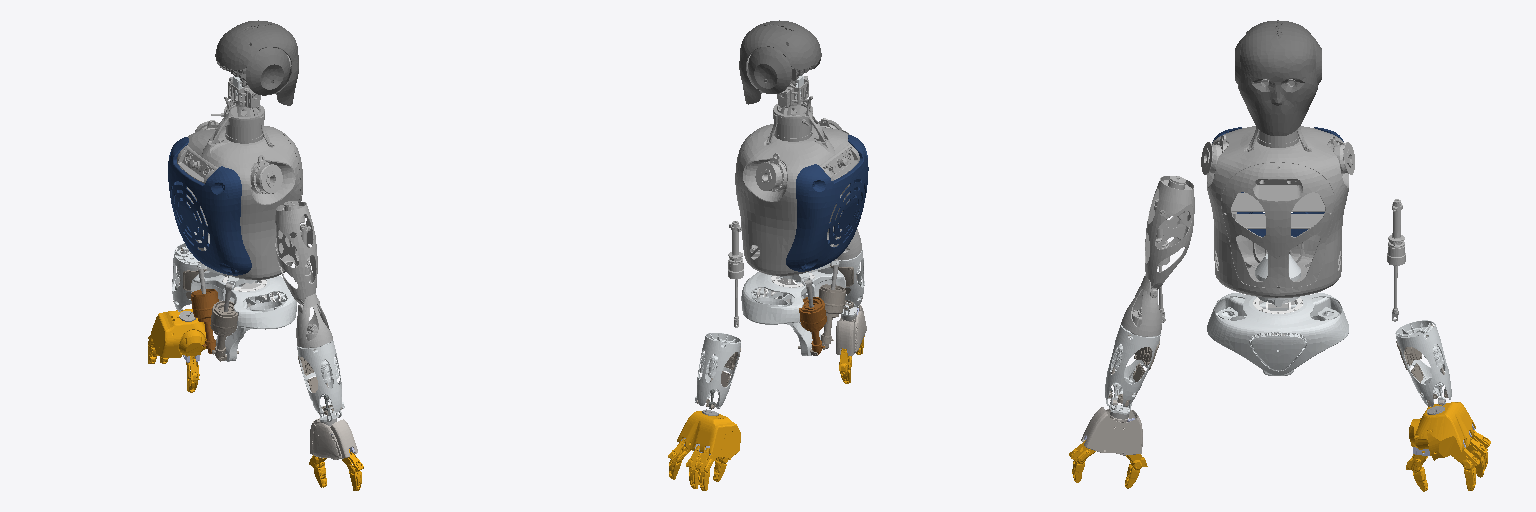
--- What the picture shows (computed from the rendered views, not written in the file) ---
The picture shows the robot from 3 angles, left to right: view 1: azimuth 30°, elevation 25°; view 2: azimuth 150°, elevation 25°; view 3: azimuth 270°, elevation 25°; orthographic projection.
Robot: RH5v2 — 147 links, 146 joints (78 revolute, 8 prismatic, 60 fixed); root link RH5v2_Root_Link; default pose: all joints at 0.
Visible links, largest first — view 1: Connector_Body/Torso_Link, Connector_Torso/Backpack_Link, HeadYaw_Link, RH5v2_Root_Link, ARShoulder3_Link, HeadBase_Link, ARWristBase_Link, GLBase_Link, GRBase_Link, ARElbow_Link, BodyBR2_Link, BodyBL2_Link (+3 smaller); view 2: Connector_Body/Torso_Link, Connector_Torso/Backpack_Link, HeadYaw_Link, RH5v2_Root_Link, HeadBase_Link, GLBase_Link, ALWristBase_Link, GRBase_Link, BodyBL2_Link, BodyBR2_Link, ALBase_Link, ARWristBase_Link (+1 smaller); view 3: Connector_Body/Torso_Link, RH5v2_Root_Link, HeadYaw_Link, ARShoulder3_Link, ALWristBase_Link, GLBase_Link, GRBase_Link, ARWristBase_Link, ARElbow_Link, ALElbowB11_Link, HeadBase_Link, ARBase_Link (+1 smaller).
Link boxes in pixels (x1=…): Connector_Body/Torso_Link: x1=177, y1=126, x2=302, y2=279; Connector_Torso/Backpack_Link: x1=168, y1=137, x2=251, y2=275; HeadYaw_Link: x1=215, y1=20, x2=298, y2=105; RH5v2_Root_Link: x1=191, y1=271, x2=296, y2=361; ARShoulder3_Link: x1=275, y1=201, x2=317, y2=309; HeadBase_Link: x1=208, y1=76, x2=271, y2=146; ARWristBase_Link: x1=297, y1=340, x2=341, y2=414; GLBase_Link: x1=151, y1=309, x2=206, y2=357; GRBase_Link: x1=310, y1=418, x2=357, y2=459; ARElbow_Link: x1=296, y1=293, x2=332, y2=350; BodyBR2_Link: x1=210, y1=301, x2=237, y2=360; BodyBL2_Link: x1=191, y1=289, x2=218, y2=353; Connector_Body/Torso_Link: x1=735, y1=124, x2=859, y2=275; Connector_Torso/Backpack_Link: x1=786, y1=135, x2=868, y2=271; HeadYaw_Link: x1=739, y1=20, x2=821, y2=104; RH5v2_Root_Link: x1=741, y1=267, x2=845, y2=355; HeadBase_Link: x1=766, y1=76, x2=828, y2=144; GLBase_Link: x1=677, y1=411, x2=740, y2=458; ALWristBase_Link: x1=697, y1=333, x2=740, y2=408; GRBase_Link: x1=836, y1=303, x2=866, y2=355; BodyBL2_Link: x1=799, y1=297, x2=826, y2=354; BodyBR2_Link: x1=819, y1=284, x2=845, y2=349; ALBase_Link: x1=755, y1=153, x2=786, y2=191; ARWristBase_Link: x1=839, y1=250, x2=864, y2=307; Connector_Body/Torso_Link: x1=1207, y1=126, x2=1348, y2=297; RH5v2_Root_Link: x1=1207, y1=293, x2=1348, y2=375; HeadYaw_Link: x1=1235, y1=20, x2=1321, y2=135; ARShoulder3_Link: x1=1145, y1=176, x2=1194, y2=295; ALWristBase_Link: x1=1395, y1=320, x2=1451, y2=406; GLBase_Link: x1=1414, y1=402, x2=1475, y2=460; GRBase_Link: x1=1081, y1=407, x2=1142, y2=455; ARWristBase_Link: x1=1105, y1=325, x2=1160, y2=406; ARElbow_Link: x1=1121, y1=274, x2=1165, y2=336; ALElbowB11_Link: x1=1387, y1=199, x2=1405, y2=265; HeadBase_Link: x1=1247, y1=127, x2=1309, y2=151; ARBase_Link: x1=1201, y1=135, x2=1228, y2=175.
Size in the robot's own frame: 0.3432 by 1.02 by 1.23 metres.
99 mesh visuals loaded from 83 distinct referenced files (74 binary STL); not drawn: 9 (reference not matched to a file when rendering).

The robot description file, URDF, robot "RH5v2":
<robot name="RH5v2">
  <joint name="ALBase" type="fixed">
    <origin xyz="0.29809 0.12609 0.025162" rpy="1.508093 0.25436 1.3265"/>
    <parent link="Connector_Body/Torso_Link"/>
    <child link="ALBase_Link"/>
  </joint>
  <link name="ALBase_Link">
    <inertial>
      <origin xyz="0.0079897 -7.1316e-07 0.00019625" rpy="0.0 0.0 0.0"/>
      <mass value="1.1943"/>
      <inertia ixx="0.00089755" ixy="1.4484e-08" ixz="-2.6127e-07" iyy="0.00057565" iyz="-7.8027e-07" izz="0.00056347"/>
    </inertial>
    <visual name="ALBase_Link_Visual">
      <origin xyz="0.0 0.0 0.0" rpy="0.0 0.0 0.0"/>
      <geometry>
        <mesh filename="../meshes/ALBase_Link.stl"/>
      </geometry>
      <material name="">
        <color rgba="0.75294 0.75294 0.75294 1.0"/>
      </material>
    </visual>
    <collision name="ALBase_Link_Collision">
      <origin xyz="0.0 0.0 0.0" rpy="0.0 0.0 0.0"/>
      <geometry>
        <mesh filename="../meshes/ALBase_Link_convexhull.stl" scale="1.0 1.0 1.0"/>
      </geometry>
    </collision>
  </link>
  <joint name="ALElbow" type="revolute">
    <origin xyz="0.0 0.001 0.3511" rpy="0.0 0.0 0.0"/>
    <axis xyz="1.0 0.0 0.0"/>
    <parent link="ALShoulder3_Link"/>
    <child link="ALElbow_Link"/>
    <limit effort="400.0" lower="-1.832" upper="0.0" velocity="3.1415926"/>
  </joint>
  <joint name="ALElbowAct" type="prismatic">
    <origin xyz="0.0 0.0 0.29542" rpy="0.0 0.0 0.0"/>
    <axis xyz="0.0 0.0 1.0"/>
    <parent link="ALElbowB11_Link"/>
    <child link="ALElbowAct_Link"/>
    <limit effort="400.0" lower="-1.57" upper="1.57" velocity="3.1415926"/>
  </joint>
  <link name="ALElbowAct_Link">
    <inertial>
      <origin xyz="-6.1594e-06 1.459e-10 -0.085859" rpy="0.0 0.0 0.0"/>
      <mass value="0.054652"/>
      <inertia ixx="0.00010606969013629223" ixy="3.492500000065374e-13" ixz="3.6185000000071752e-09" iyy="0.00010597469013629217" iyz="-4.3476005705310174e-14" izz="1.0000000136292127e-05"/>
    </inertial>
    <visual name="ALElbowAct_Link_Visual">
      <origin xyz="0.0 0.0 0.0" rpy="0.0 0.0 0.0"/>
      <geometry>
        <mesh filename="../meshes/ALElbow_Act_Link.stl"/>
      </geometry>
      <material name="">
        <color rgba="0.75294 0.75294 0.75294 1.0"/>
      </material>
    </visual>
    <collision name="ALElbowAct_Link_Collision">
      <origin xyz="0.0 0.0 0.0" rpy="0.0 0.0 0.0"/>
      <geometry>
        <mesh filename="../meshes/ALElbow_Act_Link_convexhull.stl" scale="1.0 1.0 1.0"/>
      </geometry>
    </collision>
  </link>
  <joint name="ALElbowB11" type="revolute">
    <origin xyz="0.0 -0.029 0.1391" rpy="-0.25319 0.0 0.0"/>
    <axis xyz="1.0 0.0 0.0"/>
    <parent link="ALShoulder3_Link"/>
    <child link="ALElbowB11_Link"/>
    <limit effort="400.0" lower="-1.57" upper="1.57" velocity="3.1415926"/>
  </joint>
  <link name="ALElbowB11_Link">
    <inertial>
      <origin xyz="2.5944e-05 1.8924e-05 0.10704" rpy="0.0 0.0 0.0"/>
      <mass value="0.32696"/>
      <inertia ixx="0.00011102" ixy="-1.0985e-08" ixz="-6.6288e-08" iyy="0.00011251" iyz="1.4067e-07" izz="7.0733e-05"/>
    </inertial>
    <visual name="ALElbowB11_Link_Visual">
      <origin xyz="0.0 0.0 0.0" rpy="0.0 0.0 0.0"/>
      <geometry>
        <mesh filename="../meshes/ALElbow_B11_Link.stl"/>
      </geometry>
      <material name="">
        <color rgba="0.75294 0.75294 0.75294 1.0"/>
      </material>
    </visual>
    <collision name="ALElbowB11_Link_Collision">
      <origin xyz="0.0 0.0 0.0" rpy="0.0 0.0 0.0"/>
      <geometry>
        <mesh filename="../meshes/ALElbow_B11_Link_convexhull.stl" scale="1.0 1.0 1.0"/>
      </geometry>
    </collision>
  </link>
  <link name="ALElbow_Link">
    <inertial>
      <origin xyz="-7.016e-05 0.001127 0.080286" rpy="0.0 0.0 0.0"/>
      <mass value="0.63578"/>
      <inertia ixx="0.00050999" ixy="2.2297e-07" ixz="4.047e-07" iyy="0.00051633" iyz="-4.4233e-05" izz="0.00046537"/>
    </inertial>
    <visual name="ALElbow_Link_Visual">
      <origin xyz="0.0 0.0 0.0" rpy="0.0 0.0 0.0"/>
      <geometry>
        <mesh filename="../meshes/ALElbow_Link.stl"/>
      </geometry>
      <material name="">
        <color rgba="0.75294 0.75294 0.75294 1.0"/>
      </material>
    </visual>
    <collision name="ALElbow_Link_Collision">
      <origin xyz="0.0 0.0 0.0" rpy="0.0 0.0 0.0"/>
      <geometry>
        <mesh filename="../meshes/ALElbow_Link_convexhull.stl" scale="1.0 1.0 1.0"/>
      </geometry>
    </collision>
  </link>
  <joint name="ALShoulder1" type="revolute">
    <origin xyz="0.1076 0.0 0.0" rpy="3.1416 0.0 0.0"/>
    <axis xyz="1.0 0.0 0.0"/>
    <parent link="ALBase_Link"/>
    <child link="ALShoulder1_Link"/>
    <limit effort="400.0" lower="-3.141" upper="3.141" velocity="3.1415926"/>
  </joint>
  <link name="ALShoulder1_Link">
    <inertial>
      <origin xyz="-0.0091569 0.0036464 -0.00016872" rpy="0.0 0.0 0.0"/>
      <mass value="1.602"/>
      <inertia ixx="0.0012117" ixy="-8.0704e-05" ixz="-3.528e-06" iyy="0.0015561" iyz="-2.6511e-06" izz="0.0010024"/>
    </inertial>
    <visual name="ALShoulder1_Link_Visual">
      <origin xyz="0.0 0.0 0.0" rpy="0.0 0.0 0.0"/>
      <geometry>
        <mesh filename="../meshes/ALShoulder1_Link.stl"/>
      </geometry>
      <material name="">
        <color rgba="0.75294 0.75294 0.75294 1.0"/>
      </material>
    </visual>
    <collision name="ALShoulder1_Link_Collision">
      <origin xyz="0.0 0.0 0.0" rpy="0.0 0.0 0.0"/>
      <geometry>
        <mesh filename="../meshes/ALShoulder1_Link_convexhull.stl" scale="1.0 1.0 1.0"/>
      </geometry>
    </collision>
  </link>
  <joint name="ALShoulder2" type="revolute">
    <origin xyz="0.0 0.0 0.0" rpy="0.0 0.0 0.0"/>
    <axis xyz="0.0 1.0 0.0"/>
    <parent link="ALShoulder1_Link"/>
    <child link="ALShoulder2_Link"/>
    <limit effort="400.0" lower="-0.253" upper="1.85" velocity="3.1415926"/>
  </joint>
  <link name="ALShoulder2_Link">
    <inertial>
      <origin xyz="0.010763 0.020477 0.0278" rpy="0.0 0.0 0.0"/>
      <mass value="0.50849"/>
      <inertia ixx="0.0010465" ixy="0.00012061" ixz="5.4855e-05" iyy="0.00092568" iyz="0.00027501" izz="0.0010393"/>
    </inertial>
    <visual name="ALShoulder2_Link_Visual">
      <origin xyz="0.0 0.0 0.0" rpy="0.0 0.0 0.0"/>
      <geometry>
        <mesh filename="../meshes/ALShoulder2_Link.stl"/>
      </geometry>
      <material name="">
        <color rgba="0.75294 0.75294 0.75294 1.0"/>
      </material>
    </visual>
    <collision name="ALShoulder2_Link_Collision">
      <origin xyz="0.0 0.0 0.0" rpy="0.0 0.0 0.0"/>
      <geometry>
        <mesh filename="../meshes/ALShoulder2_Link_convexhull.stl" scale="1.0 1.0 1.0"/>
      </geometry>
    </collision>
  </link>
  <joint name="ALShoulder3" type="revolute">
    <origin xyz="0.0 0.0 0.0" rpy="0.0 0.0 1.5707"/>
    <axis xyz="0.0 0.0 1.0"/>
    <parent link="ALShoulder2_Link"/>
    <child link="ALShoulder3_Link"/>
    <limit effort="400.0" lower="-3.141" upper="3.141" velocity="3.1415926"/>
  </joint>
  <link name="ALShoulder3_Link">
    <inertial>
      <origin xyz="-3.2703e-05 0.0033688 0.14648" rpy="0.0 0.0 0.0"/>
      <mass value="0.85234"/>
      <inertia ixx="0.0028013" ixy="5.1939e-07" ixz="-7.2591e-07" iyy="0.0027401" iyz="5.4672e-05" izz="0.00078629"/>
    </inertial>
    <visual name="ALShoulder3_Link_Visual">
      <origin xyz="0.0 0.0 0.0" rpy="0.0 0.0 0.0"/>
      <geometry>
        <mesh filename="../meshes/ALShoulder3_Link.stl"/>
      </geometry>
      <material name="">
        <color rgba="0.75294 0.75294 0.75294 1.0"/>
      </material>
    </visual>
    <collision name="ALShoulder3_Link_Collision">
      <origin xyz="0.0 0.0 0.0" rpy="0.0 0.0 0.0"/>
      <geometry>
        <mesh filename="../meshes/ALShoulder3_Link_convexhull.stl" scale="1.0 1.0 1.0"/>
      </geometry>
    </collision>
  </link>
  <joint name="ALWristAL1" type="revolute">
    <origin xyz="0.0155 -0.034 -0.178" rpy="1.5885 0.0 0.0"/>
    <axis xyz="1.0 0.0 0.0"/>
    <parent link="ALWristRoot_Link"/>
    <child link="ALWristAL1_Link"/>
    <limit effort="400.0" lower="-1.57" upper="1.57" velocity="3.1415926"/>
  </joint>
  <link name="ALWristAL1_Link">
    <inertial>
      <origin xyz="4.69848839836778e-06 0.0605130022183077 8.23954439692215e-05" rpy="0.0 0.0 0.0"/>
      <mass value="0.110279568172128"/>
      <inertia ixx="1.426060228931759e-05" ixy="-1.1829530729395678e-10" ixz="-1.5559842262297789e-09" iyy="1.0001497220685684e-05" iyz="-8.070848171024899e-08" izz="1.4350648635894694e-05"/>
    </inertial>
    <visual name="ALWristAL1_Link_Visual">
      <origin xyz="0.0 0.0 0.0" rpy="0.0 0.0 0.0"/>
      <geometry>
        <mesh filename="../meshes/ALWrist_AL1_Link.stl"/>
      </geometry>
      <material name="">
        <color rgba="0.898039215686275 0.917647058823529 0.929411764705882 1.0"/>
      </material>
    </visual>
    <collision name="ALWristAL1_Link_Collision">
      <origin xyz="0.0 0.0 0.0" rpy="0.0 0.0 0.0"/>
      <geometry>
        <mesh filename="../meshes/ALWrist_AL1_Link_convexhull.stl" scale="1.0 1.0 1.0"/>
      </geometry>
    </collision>
  </link>
  <joint name="ALWristAR1" type="revolute">
    <origin xyz="-0.0155 -0.034 -0.178" rpy="1.5885 0.0 0.0"/>
    <axis xyz="1.0 0.0 0.0"/>
    <parent link="ALWristRoot_Link"/>
    <child link="ALWristAR1_Link"/>
    <limit effort="400.0" lower="-1.57" upper="1.57" velocity="3.1415926"/>
  </joint>
  <link name="ALWristAR1_Link">
    <inertial>
      <origin xyz="1.0632e-07 0.058479 9.3561e-05" rpy="0.0 0.0 0.0"/>
      <mass value="0.10113"/>
      <inertia ixx="1.4212213742562422e-05" ixy="-1.1886000000000004e-10" ixz="-1.4829999999999594e-10" iyy="1.000151374256242e-05" iyz="-8.070899999999586e-08" izz="1.4303213742562425e-05"/>
    </inertial>
    <visual name="ALWristAR1_Link_Visual">
      <origin xyz="0.0 0.0 0.0" rpy="0.0 0.0 0.0"/>
      <geometry>
        <mesh filename="../meshes/ALWrist_AR1_Link.stl"/>
      </geometry>
      <material name="">
        <color rgba="0.89804 0.91765 0.92941 1.0"/>
      </material>
    </visual>
    <collision name="ALWristAR1_Link_Collision">
      <origin xyz="0.0 0.0 0.0" rpy="0.0 0.0 0.0"/>
      <geometry>
        <mesh filename="../meshes/ALWrist_AR1_Link_convexhull.stl" scale="1.0 1.0 1.0"/>
      </geometry>
    </collision>
  </link>
  <joint name="ALWristActL" type="prismatic">
    <origin xyz="0.0 0.13346 0.0" rpy="-1.5708 0.0 0.0"/>
    <axis xyz="0.0 0.0 1.0"/>
    <parent link="ALWristAL1_Link"/>
    <child link="ALWristActL_Link"/>
    <limit effort="400.0" lower="-1.57" upper="1.57" velocity="3.1415926"/>
  </joint>
  <link name="ALWristActL_Link">
    <inertial>
      <origin xyz="1.6961e-10 -3.3309e-11 -0.049176" rpy="0.0 0.0 0.0"/>
      <mass value="0.022415"/>
      <inertia ixx="2.2515570000000003e-05" ixy="-8.666700000001066e-16" ixz="7.960299999999999e-17" iyy="2.2496570000000005e-05" iyz="2.9215000273952845e-15" izz="1e-05"/>
    </inertial>
    <visual name="ALWristActL_Link_Visual">
      <origin xyz="0.0 0.0 0.0" rpy="0.0 0.0 0.0"/>
      <geometry>
        <mesh filename="../meshes/ALWrist_ActL_Link.stl"/>
      </geometry>
      <material name="">
        <color rgba="0.77647 0.75686 0.73725 1.0"/>
      </material>
    </visual>
    <collision name="ALWristActL_Link_Collision">
      <origin xyz="0.0 0.0 0.0" rpy="0.0 0.0 0.0"/>
      <geometry>
        <mesh filename="../meshes/ALWrist_ActL_Link_convexhull.stl" scale="1.0 1.0 1.0"/>
      </geometry>
    </collision>
  </link>
  <joint name="ALWristActR" type="prismatic">
    <origin xyz="0.0 0.13346 0.0" rpy="-1.5708 0.0 0.0"/>
    <axis xyz="0.0 0.0 1.0"/>
    <parent link="ALWristAR1_Link"/>
    <child link="ALWristActR_Link"/>
    <limit effort="400.0" lower="-1.57" upper="1.57" velocity="3.1415926"/>
  </joint>
  <link name="ALWristActR_Link">
    <inertial>
      <origin xyz="-2.50423902101171e-10 -5.99230387532401e-12 -0.0491763872735069" rpy="0.0 0.0 0.0"/>
      <mass value="0.0224154782060298"/>
      <inertia ixx="2.251577391703877e-05" ixy="-8.666685437716609e-16" ixz="7.959775514672119e-17" iyy="2.249645939989927e-05" iyz="2.9215994791528672e-15" izz="1e-05"/>
    </inertial>
    <visual name="ALWristActR_Link_Visual">
      <origin xyz="0.0 0.0 0.0" rpy="0.0 0.0 0.0"/>
      <geometry>
        <mesh filename="../meshes/ALWrist_ActR_Link.stl"/>
      </geometry>
      <material name="">
        <color rgba="0.776470588235294 0.756862745098039 0.737254901960784 1.0"/>
      </material>
    </visual>
    <collision name="ALWristActR_Link_Collision">
      <origin xyz="0.0 0.0 0.0" rpy="0.0 0.0 0.0"/>
      <geometry>
        <mesh filename="../meshes/ALWrist_ActR_Link_convexhull.stl" scale="1.0 1.0 1.0"/>
      </geometry>
    </collision>
  </link>
  <joint name="ALWristBL0" type="revolute">
    <origin xyz="0.0 0.0 0.045018" rpy="0.0 0.0 0.0"/>
    <axis xyz="1.0 0.0 0.0"/>
    <parent link="ALWristBL3_Link"/>
    <child link="ALWristBL0_Link"/>
    <limit effort="400.0" lower="-1.57" upper="1.57" velocity="3.1415926"/>
  </joint>
  <link name="ALWristBL0_Link">
    <inertial>
      <origin xyz="0.0 0.0 0.0" rpy="0.0 0.0 0.0"/>
      <mass value="1e-05"/>
      <inertia ixx="1e-05" ixy="0.0" ixz="0.0" iyy="1e-05" iyz="0.0" izz="1e-05"/>
    </inertial>
  </link>
  <joint name="ALWristBL1" type="revolute">
    <origin xyz="0.0155 0.011 -0.032" rpy="-2.8824 0.0 0.0"/>
    <axis xyz="1.0 0.0 0.0"/>
    <parent link="ALWristRoot_Link"/>
    <child link="ALWristBL1_Link"/>
    <limit effort="400.0" lower="-1.57" upper="1.57" velocity="3.1415926"/>
  </joint>
  <link name="ALWristBL1_Link">
    <inertial>
      <origin xyz="0.0019151 0.02635 0.0010414" rpy="0.0 0.0 0.0"/>
      <mass value="0.024008"/>
      <inertia ixx="1.3690309326298155e-05" ixy="-2.58529999998267e-13" ixz="-8.119499999914014e-14" iyy="1.0041289326298152e-05" iyz="3.8667999999999843e-07" izz="1.3621309326298154e-05"/>
    </inertial>
    <visual name="ALWristBL1_Link_Visual">
      <origin xyz="0.0 0.0 0.0" rpy="0.0 0.0 0.0"/>
      <geometry>
        <mesh filename="../meshes/ALWrist_BL1_Link.stl"/>
      </geometry>
      <material name="">
        <color rgba="0.89804 0.91765 0.92941 1.0"/>
      </material>
    </visual>
    <collision name="ALWristBL1_Link_Collision">
      <origin xyz="0.0 0.0 0.0" rpy="0.0 0.0 0.0"/>
      <geometry>
        <mesh filename="../meshes/ALWrist_BL1_Link_convexhull.stl" scale="1.0 1.0 1.0"/>
      </geometry>
    </collision>
  </link>
  <joint name="ALWristBL2" type="revolute">
    <origin xyz="0.0 0.0 0.0" rpy="0.0 0.0 0.0"/>
    <axis xyz="0.0 1.0 0.0"/>
    <parent link="ALWristBL0_Link"/>
    <child link="ALWristBL2_Link"/>
    <limit effort="400.0" lower="-1.57" upper="1.57" velocity="3.1415926"/>
  </joint>
  <link name="ALWristBL2_Link">
    <inertial>
      <origin xyz="-0.00285895892979633 1.59419756701196e-08 4.93600032917541e-05" rpy="0.0 0.0 0.0"/>
      <mass value="0.00373058333172257"/>
      <inertia ixx="1.0000022086306678e-05" ixy="-2.1170777449156144e-13" ixz="1.2800661535321242e-09" iyy="1.0074214747460805e-05" iyz="-3.1071812995088624e-13" izz="1.0074189380048775e-05"/>
    </inertial>
    <visual name="ALWristBL2_Link_Visual">
      <origin xyz="0.0 0.0 0.0" rpy="0.0 0.0 0.0"/>
      <geometry>
        <mesh filename="../meshes/ALWrist_BL2_Link.stl"/>
      </geometry>
      <material name="">
        <color rgba="0.647058823529412 0.619607843137255 0.588235294117647 1.0"/>
      </material>
    </visual>
    <collision name="ALWristBL2_Link_Collision">
      <origin xyz="0.0 0.0 0.0" rpy="0.0 0.0 0.0"/>
      <geometry>
        <mesh filename="../meshes/ALWrist_BL2_Link_convexhull.stl" scale="1.0 1.0 1.0"/>
      </geometry>
    </collision>
  </link>
  <joint name="ALWristBL3" type="revolute">
    <origin xyz="0.0 0.0 0.0" rpy="0.0 -0.017255 0.0"/>
    <axis xyz="0.0 1.0 0.0"/>
    <parent link="ALWristBL4_Link"/>
    <child link="ALWristBL3_Link"/>
    <limit effort="400.0" lower="-1.57" upper="1.57" velocity="3.1415926"/>
  </joint>
  <link name="ALWristBL3_Link">
    <inertial>
      <origin xyz="2.38502552360881e-05 4.66313256272666e-08 0.0283017467527962" rpy="0.0 0.0 0.0"/>
      <mass value="0.0163436688111198"/>
      <inertia ixx="1.0588437589385662e-05" ixy="2.6491888917750254e-12" ixz="3.971418402991697e-10" iyy="1.0442298027473029e-05" iyz="-1.0478564692762442e-11" izz="1.0000000268282943e-05"/>
    </inertial>
    <visual name="ALWristBL3_Link_Visual">
      <origin xyz="0.0 0.0 0.0" rpy="0.0 0.0 0.0"/>
      <geometry>
        <mesh filename="../meshes/ALWrist_BL3_Link.stl"/>
      </geometry>
      <material name="">
        <color rgba="0.898039215686275 0.917647058823529 0.929411764705882 1.0"/>
      </material>
    </visual>
    <collision name="ALWristBL3_Link_Collision">
      <origin xyz="0.0 0.0 0.0" rpy="0.0 0.0 0.0"/>
      <geometry>
        <mesh filename="../meshes/ALWrist_BL3_Link_convexhull.stl" scale="1.0 1.0 1.0"/>
      </geometry>
    </collision>
  </link>
  <joint name="ALWristBL4" type="revolute">
    <origin xyz="0.027 -0.03 0.0" rpy="2.9998 0.0 0.0"/>
    <axis xyz="1.0 0.0 0.0"/>
    <parent link="ALWristYaw_Link"/>
    <child link="ALWristBL4_Link"/>
    <limit effort="400.0" lower="-1.57" upper="1.57" velocity="3.1415926"/>
  </joint>
  <link name="ALWristBL4_Link">
    <inertial>
      <origin xyz="-0.00221364330903131 4.35096403350599e-12 -8.57685450439405e-13" rpy="0.0 0.0 0.0"/>
      <mass value="0.0116530368127355"/>
      <inertia ixx="1e-05" ixy="1.5953378838595036e-20" ixz="3.4058691933577745e-19" iyy="1.027752247888744e-05" iyz="-9.076929593055545e-16" izz="1.0188830976875939e-05"/>
    </inertial>
    <visual name="ALWristBL4_Link_Visual">
      <origin xyz="0.0 0.0 0.0" rpy="0.0 0.0 0.0"/>
      <geometry>
        <mesh filename="../meshes/ALWrist_BL4_Link.stl"/>
      </geometry>
      <material name="">
        <color rgba="0.776470588235294 0.756862745098039 0.737254901960784 1.0"/>
      </material>
    </visual>
    <collision name="ALWristBL4_Link_Collision">
      <origin xyz="0.0 0.0 0.0" rpy="0.0 0.0 0.0"/>
      <geometry>
        <mesh filename="../meshes/ALWrist_BL4_Link_convexhull.stl" scale="1.0 1.0 1.0"/>
      </geometry>
    </collision>
  </link>
  <joint name="ALWristBR0" type="revolute">
    <origin xyz="0.0 0.0 0.045018" rpy="0.0 0.0 0.0"/>
    <axis xyz="1.0 0.0 0.0"/>
    <parent link="ALWristBR3_Link"/>
    <child link="ALWristBR0_Link"/>
    <limit effort="400.0" lower="-1.57" upper="1.57" velocity="3.1415926"/>
  </joint>
  <link name="ALWristBR0_Link">
    <inertial>
      <origin xyz="0.0 0.0 0.0" rpy="0.0 0.0 0.0"/>
      <mass value="1e-05"/>
      <inertia ixx="1e-05" ixy="0.0" ixz="0.0" iyy="1e-05" iyz="0.0" izz="1e-05"/>
    </inertial>
  </link>
  <joint name="ALWristBR1" type="revolute">
    <origin xyz="-0.0155 0.011 -0.032" rpy="-2.8824 0.0 0.0"/>
    <axis xyz="1.0 0.0 0.0"/>
    <parent link="ALWristRoot_Link"/>
    <child link="ALWristBR1_Link"/>
    <limit effort="400.0" lower="-1.57" upper="1.57" velocity="3.1415926"/>
  </joint>
  <link name="ALWristBR1_Link">
    <inertial>
      <origin xyz="-0.0019151 0.02635 0.0010414" rpy="0.0 0.0 0.0"/>
      <mass value="0.024008"/>
      <inertia ixx="1.3690545308238603e-05" ixy="-1.148899999986299e-13" ixz="3.822099999976209e-14" iyy="1.0041345308238603e-05" iyz="3.8696e-07" izz="1.3621645308238606e-05"/>
    </inertial>
    <visual name="ALWristBR1_Link_Visual">
      <origin xyz="0.0 0.0 0.0" rpy="0.0 0.0 0.0"/>
      <geometry>
        <mesh filename="../meshes/ALWrist_BR1_Link.stl"/>
      </geometry>
      <material name="">
        <color rgba="0.89804 0.91765 0.92941 1.0"/>
      </material>
    </visual>
    <collision name="ALWristBR1_Link_Collision">
      <origin xyz="0.0 0.0 0.0" rpy="0.0 0.0 0.0"/>
      <geometry>
        <mesh filename="../meshes/ALWrist_BR1_Link_convexhull.stl" scale="1.0 1.0 1.0"/>
      </geometry>
    </collision>
  </link>
  <joint name="ALWristBR2" type="revolute">
    <origin xyz="0.0 0.0 0.0" rpy="0.0 0.0 0.0"/>
    <axis xyz="0.0 1.0 0.0"/>
    <parent link="ALWristBR0_Link"/>
    <child link="ALWristBR2_Link"/>
    <limit effort="400.0" lower="-1.57" upper="1.57" velocity="3.1415926"/>
  </joint>
  <link name="ALWristBR2_Link">
    <inertial>
      <origin xyz="-0.00285890746146323 2.16333476826813e-09 4.93604190743499e-05" rpy="0.0 0.0 0.0"/>
      <mass value="0.00373054475630146"/>
      <inertia ixx="1.000002209364975e-05" ixy="-1.3816128592343518e-13" ixz="1.2803063868888173e-09" iyy="1.0074212979026388e-05" iyz="-1.0109428273552697e-12" izz="1.0074192561095311e-05"/>
    </inertial>
    <visual name="ALWristBR2_Link_Visual">
      <origin xyz="0.0 0.0 0.0" rpy="0.0 0.0 0.0"/>
      <geometry>
        <mesh filename="../meshes/ALWrist_BR2_Link.stl"/>
      </geometry>
      <material name="">
        <color rgba="0.647058823529412 0.619607843137255 0.588235294117647 1.0"/>
      </material>
    </visual>
    <collision name="ALWristBR2_Link_Collision">
      <origin xyz="0.0 0.0 0.0" rpy="0.0 0.0 0.0"/>
      <geometry>
        <mesh filename="../meshes/ALWrist_BR2_Link_convexhull.stl" scale="1.0 1.0 1.0"/>
      </geometry>
    </collision>
  </link>
  <joint name="ALWristBR3" type="revolute">
    <origin xyz="0.0 0.0 0.0" rpy="0.0 -0.017255 0.0"/>
    <axis xyz="0.0 1.0 0.0"/>
    <parent link="ALWristBR4_Link"/>
    <child link="ALWristBR3_Link"/>
    <limit effort="400.0" lower="-1.57" upper="1.57" velocity="3.1415926"/>
  </joint>
  <link name="ALWristBR3_Link">
    <inertial>
      <origin xyz="2.38500712359466e-05 4.68942149695062e-08 0.0283017446065629" rpy="0.0 0.0 0.0"/>
      <mass value="0.0163436663117003"/>
      <inertia ixx="1.058843751107658e-05" ixy="3.883356249554021e-12" ixz="3.9714539909530543e-10" iyy="1.0442298557724912e-05" iyz="-9.93761778002401e-12" izz="1.0000000268262852e-05"/>
    </inertial>
    <visual name="ALWristBR3_Link_Visual">
      <origin xyz="0.0 0.0 0.0" rpy="0.0 0.0 0.0"/>
      <geometry>
        <mesh filename="../meshes/ALWrist_BR3_Link.stl"/>
      </geometry>
      <material name="">
        <color rgba="0.529411764705882 0.549019607843137 0.549019607843137 1.0"/>
      </material>
    </visual>
    <collision name="ALWristBR3_Link_Collision">
      <origin xyz="0.0 0.0 0.0" rpy="0.0 0.0 0.0"/>
      <geometry>
        <mesh filename="../meshes/ALWrist_BR3_Link_convexhull.stl" scale="1.0 1.0 1.0"/>
      </geometry>
    </collision>
  </link>
  <joint name="ALWristBR4" type="revolute">
    <origin xyz="-0.027 -0.03 0.0" rpy="-2.9998 0.0 -3.1416"/>
    <axis xyz="1.0 0.0 0.0"/>
    <parent link="ALWristYaw_Link"/>
    <child link="ALWristBR4_Link"/>
    <limit effort="400.0" lower="-1.57" upper="1.57" velocity="3.1415926"/>
  </joint>
  <link name="ALWristBR4_Link">
    <inertial>
      <origin xyz="-0.00221364330907749 -4.11274486689095e-12 8.10143618856785e-13" rpy="0.0 0.0 0.0"/>
      <mass value="0.0116530368127689"/>
      <inertia ixx="1e-05" ixy="-7.714431638365371e-20" ixz="-3.728723958847608e-19" iyy="1.027752247888592e-05" iyz="-9.04953782288128e-16" izz="1.018883097687764e-05"/>
    </inertial>
    <visual name="ALWristBR4_Link_Visual">
      <origin xyz="0.0 0.0 0.0" rpy="0.0 0.0 0.0"/>
      <geometry>
        <mesh filename="../meshes/ALWrist_BR4_Link.stl"/>
      </geometry>
      <material name="">
        <color rgba="0.647058823529412 0.619607843137255 0.588235294117647 1.0"/>
      </material>
    </visual>
    <collision name="ALWristBR4_Link_Collision">
      <origin xyz="0.0 0.0 0.0" rpy="0.0 0.0 0.0"/>
      <geometry>
        <mesh filename="../meshes/ALWrist_BR4_Link_convexhull.stl" scale="1.0 1.0 1.0"/>
      </geometry>
    </collision>
  </link>
  <joint name="ALWristBase" type="fixed">
    <origin xyz="0.0 0.0 -0.168" rpy="0.0 -1.5708 0.0"/>
    <parent link="ALWristRoot_Link"/>
    <child link="ALWristBase_Link"/>
  </joint>
  <link name="ALWristBase_Link">
    <inertial>
      <origin xyz="0.0541597343830008 -0.00428968359174776 -5.49036455757147e-05" rpy="0.0 0.0 0.0"/>
      <mass value="0.276021721766216"/>
      <inertia ixx="0.000481869493582971" ixy="1.89399978244833e-05" ixz="-1.94485149438737e-08" iyy="0.00129886088799315" iyz="-3.56911305392632e-07" izz="0.00129140889559124"/>
    </inertial>
    <visual name="ALWristBase_Link_Visual">
      <origin xyz="0.0 0.0 0.0" rpy="0.0 0.0 0.0"/>
      <geometry>
        <mesh filename="../meshes/ALWrist_Base_Link.stl"/>
      </geometry>
      <material name="">
        <color rgba="0.898039215686275 0.917647058823529 0.929411764705882 1.0"/>
      </material>
    </visual>
    <collision name="ALWristBase_Link_Collision">
      <origin xyz="0.0 0.0 0.0" rpy="0.0 0.0 0.0"/>
      <geometry>
        <mesh filename="../meshes/ALWrist_Base_Link_convexhull.stl" scale="1.0 1.0 1.0"/>
      </geometry>
    </collision>
  </link>
  <joint name="ALWristFT" type="fixed">
    <origin xyz="-1.2399e-05 0.0 0.042748" rpy="0.0 0.0 1.5708"/>
    <parent link="ALWristYaw_Link"/>
    <child link="ALWristFT_Link"/>
  </joint>
  <link name="ALWristFT_Link">
    <inertial>
      <origin xyz="-3.68488827482899e-05 -5.88316189521624e-05 -0.00791199218667672" rpy="0.0 0.0 0.0"/>
      <mass value="0.0919909344510386"/>
      <inertia ixx="1.39518131854906e-05" ixy="-3.05326757970196e-08" ixz="-1.47634493222953e-08" iyy="1.39070683493609e-05" iyz="-1.94813966896539e-08" izz="2.41202226678126e-05"/>
    </inertial>
    <visual name="ALWristFT_Link_Visual">
      <origin xyz="0.0 0.0 0.0" rpy="0.0 0.0 0.0"/>
      <geometry>
        <mesh filename="../meshes/ALWristFT_Link.stl"/>
      </geometry>
      <material name="">
        <color rgba="0.698039215686274 0.698039215686274 0.698039215686274 1.0"/>
      </material>
    </visual>
    <collision name="ALWristFT_Link_Collision">
      <origin xyz="0.0 0.0 0.0" rpy="0.0 0.0 0.0"/>
      <geometry>
        <mesh filename="../meshes/ALWristFT_Link_convexhull.stl" scale="1.0 1.0 1.0"/>
      </geometry>
    </collision>
  </link>
  <joint name="ALWristPitch" type="revolute">
    <origin xyz="0.0 0.0 0.0" rpy="0.0 0.0 0.0"/>
    <axis xyz="1.0 0.0 0.0"/>
    <parent link="ALWristRoot_Link"/>
    <child link="ALWristPitch_Link"/>
    <limit effort="400.0" lower="-0.741" upper="1.75" velocity="3.1415926"/>
  </joint>
  <link name="ALWristPitch_Link">
    <inertial>
      <origin xyz="7.46248686255566e-19 -1.12543960307545e-16 -1.73472347597681e-18" rpy="0.0 0.0 0.0"/>
      <mass value="0.0303458029555441"/>
      <inertia ixx="1.0000000011242503e-05" ixy="-1.991593733750814e-21" ixz="1.3686128944734017e-10" iyy="1.0143779057796202e-05" iyz="1.3756897885334319e-10" izz="1.1666089364158581e-05"/>
    </inertial>
    <visual name="ALWristPitch_Link_Visual">
      <origin xyz="0.0 0.0 0.0" rpy="0.0 0.0 0.0"/>
      <geometry>
        <mesh filename="../meshes/ALWristPitch_Link.stl"/>
      </geometry>
      <material name="">
        <color rgba="0.647058823529412 0.619607843137255 0.588235294117647 1.0"/>
      </material>
    </visual>
    <collision name="ALWristPitch_Link_Collision">
      <origin xyz="0.0 0.0 0.0" rpy="0.0 0.0 0.0"/>
      <geometry>
        <mesh filename="../meshes/ALWristPitch_Link_convexhull.stl" scale="1.0 1.0 1.0"/>
      </geometry>
    </collision>
  </link>
  <joint name="ALWristRoll" type="revolute">
    <origin xyz="0.0 0.0 0.122" rpy="3.1416 -1.5708 0.0"/>
    <axis xyz="1.0 0.0 0.0"/>
    <parent link="ALElbow_Link"/>
    <child link="ALWristRoll_Link"/>
    <limit effort="400.0" lower="-3.141" upper="3.141" velocity="3.1415926"/>
  </joint>
  <link name="ALWristRoll_Link">
    <inertial>
      <origin xyz="-1.6653e-16 -1.9082e-17 -1.3878e-17" rpy="0.0 0.0 0.0"/>
      <mass value="2e-05"/>
      <inertia ixx="2.0000000000000005e-05" ixy="3.3881317890172014e-21" ixz="0.0" iyy="2.0000000000000005e-05" iyz="0.0" izz="2.0000000000000005e-05"/>
    </inertial>
  </link>
  <joint name="ALWristRoot" type="fixed">
    <origin xyz="0.173 0.0 0.0" rpy="3.141593 -1.5707 0.0"/>
    <parent link="ALWristRoll_Link"/>
    <child link="ALWristRoot_Link"/>
  </joint>
  <link name="ALWristRoot_Link">
    <inertial>
      <origin xyz="-0.00087527 0.015651 -0.10982" rpy="0.0 0.0 0.0"/>
      <mass value="0.12307"/>
      <inertia ixx="1.6915e-05" ixy="-1.069e-08" ixz="-1.5838e-08" iyy="2.9632e-05" iyz="5.8916e-07" izz="1.3864e-05"/>
    </inertial>
    <visual name="ALWristRoot_Link_Visual">
      <origin xyz="0.0 0.0 0.0" rpy="0.0 0.0 0.0"/>
      <geometry>
        <mesh filename="../meshes/ALWrist_Root_Link.stl"/>
      </geometry>
      <material name="">
        <color rgba="0.64706 0.61961 0.58824 1.0"/>
      </material>
    </visual>
    <collision name="ALWristRoot_Link_Collision">
      <origin xyz="0.0 0.0 0.0" rpy="0.0 0.0 0.0"/>
      <geometry>
        <mesh filename="../meshes/ALWrist_Root_Link_convexhull.stl" scale="1.0 1.0 1.0"/>
      </geometry>
    </collision>
  </link>
  <joint name="ALWristYaw" type="revolute">
    <origin xyz="0.0 0.0 0.0" rpy="0.0 0.0 0.0"/>
    <axis xyz="0.0 1.0 0.0"/>
    <parent link="ALWristPitch_Link"/>
    <child link="ALWristYaw_Link"/>
    <limit effort="400.0" lower="-0.558" upper="0.593" velocity="3.1415926"/>
  </joint>
  <link name="ALWristYaw_Link">
    <inertial>
      <origin xyz="-5.96363888886987e-05 -0.0112217565403197 0.0117774710310118" rpy="0.0 0.0 0.0"/>
      <mass value="0.0440266507004541"/>
      <inertia ixx="1.452337454289961e-05" ixy="3.52232240231331e-09" ixz="1.8324292440025615e-08" iyy="1.0332756954026827e-05" iyz="-1.4768212974215518e-06" izz="1.655459170101281e-05"/>
    </inertial>
    <visual name="ALWristYaw_Link_Visual">
      <origin xyz="0.0 0.0 0.0" rpy="0.0 0.0 0.0"/>
      <geometry>
        <mesh filename="../meshes/ALWristYaw_Link.stl"/>
      </geometry>
      <material name="">
        <color rgba="0.898039215686275 0.917647058823529 0.929411764705882 1.0"/>
      </material>
    </visual>
    <collision name="ALWristYaw_Link_Collision">
      <origin xyz="0.0 0.0 0.0" rpy="0.0 0.0 0.0"/>
      <geometry>
        <mesh filename="../meshes/ALWristYaw_Link_convexhull.stl" scale="1.0 1.0 1.0"/>
      </geometry>
    </collision>
  </link>
  <joint name="ARBase" type="fixed">
    <origin xyz="0.29809 -0.12609 0.025162" rpy="-1.508093 0.25436 -1.3265"/>
    <parent link="Connector_Body/Torso_Link"/>
    <child link="ARBase_Link"/>
  </joint>
  <link name="ARBase_Link">
    <inertial>
      <origin xyz="0.00799 1e-06 0.000196" rpy="0.0 0.0 0.0"/>
      <mass value="1.194300000000001"/>
      <inertia ixx="0.00089755" ixy="-1.4484e-08" ixz="-2.6127e-07" iyy="0.00057565" iyz="7.8027e-07" izz="0.00056347"/>
    </inertial>
    <visual name="ARBase_Link_Visual">
      <origin xyz="0.0 0.0 0.0" rpy="3.141593 0.0 0.0"/>
      <geometry>
        <mesh filename="../meshes/ARBase_Link.stl" scale="1.0 1.0 1.0"/>
      </geometry>
      <material name="">
        <color rgba="0.75294 0.75294 0.75294 1.0"/>
      </material>
    </visual>
    <collision name="ARBase_Link_Collision">
      <origin xyz="0.0 0.0 0.0" rpy="0.0 0.0 0.0"/>
      <geometry>
        <mesh filename="../meshes/ARBase_Link_convexhull.stl" scale="1.0 1.0 1.0"/>
      </geometry>
    </collision>
  </link>
  <joint name="ARElbow" type="revolute">
    <origin xyz="0.0 0.001 -0.3511" rpy="-3.141592 0.0 -3.141592"/>
    <axis xyz="1.0 0.0 0.0"/>
    <parent link="ARShoulder3_Link"/>
    <child link="ARElbow_Link"/>
    <limit effort="400.0" lower="-1.832" upper="0.0" velocity="3.1415926"/>
  </joint>
  <joint name="ARElbowAct" type="prismatic">
    <origin xyz="0.0 0.0 0.29542" rpy="0.0 0.0 -3.141592"/>
    <axis xyz="0.0 0.0 1.0"/>
    <parent link="ARElbowB11_Link"/>
    <child link="ARElbowAct_Link"/>
    <limit effort="400.0" lower="-1.57" upper="1.57" velocity="3.1415926"/>
  </joint>
  <link name="ARElbowAct_Link">
    <inertial>
      <origin xyz="-6e-06 0.0 -0.085859" rpy="0.0 0.0 0.0"/>
      <mass value="0.05465199999999999"/>
      <inertia ixx="0.00010606969013566325" ixy="-3.794811884488628e-13" ixz="3.6268360281805788e-09" iyy="0.0001059746901362923" iyz="4.232588795943544e-14" izz="1.0000000136920807e-05"/>
    </inertial>
    <visual name="ARElbowAct_Link_Visual">
      <origin xyz="0.0 0.0 0.0" rpy="0.0 0.0 3.141593"/>
      <geometry>
        <mesh filename="../meshes/ARElbow_Act_Link.stl" scale="1.0 1.0 1.0"/>
      </geometry>
      <material name="">
        <color rgba="0.75294 0.75294 0.75294 1.0"/>
      </material>
    </visual>
    <collision name="ARElbowAct_Link_Collision">
      <origin xyz="0.0 0.0 0.0" rpy="0.0 0.0 0.0"/>
      <geometry>
        <mesh filename="../meshes/ARElbow_Act_Link_convexhull.stl" scale="1.0 1.0 1.0"/>
      </geometry>
    </collision>
  </link>
  <joint name="ARElbowB11" type="revolute">
    <origin xyz="0.0 -0.029 -0.1391" rpy="2.888403 0.0 -3.141592"/>
    <axis xyz="1.0 0.0 0.0"/>
    <parent link="ARShoulder3_Link"/>
    <child link="ARElbowB11_Link"/>
    <limit effort="400.0" lower="-1.57" upper="1.57" velocity="3.1415926"/>
  </joint>
  <link name="ARElbowB11_Link">
    <inertial>
      <origin xyz="-2.6e-05 1.9e-05 0.10704" rpy="0.0 0.0 0.0"/>
      <mass value="0.32695999999999986"/>
      <inertia ixx="0.00011101999998112811" ixy="1.0984488097443103e-08" ixz="6.629144855259e-08" iyy="0.00011251000000736784" iyz="1.406700231845442e-07" izz="7.073300001150397e-05"/>
    </inertial>
    <visual name="ARElbowB11_Link_Visual">
      <origin xyz="0.0 0.0 0.0" rpy="0.0 0.0 0.0"/>
      <geometry>
        <mesh filename="../meshes/ARElbow_B11_Link.stl" scale="1.0 1.0 1.0"/>
      </geometry>
      <material name="">
        <color rgba="0.75294 0.75294 0.75294 1.0"/>
      </material>
    </visual>
    <collision name="ARElbowB11_Link_Collision">
      <origin xyz="0.0 0.0 0.0" rpy="0.0 0.0 0.0"/>
      <geometry>
        <mesh filename="../meshes/ARElbow_B11_Link_convexhull.stl" scale="1.0 1.0 1.0"/>
      </geometry>
    </collision>
  </link>
  <link name="ARElbow_Link">
    <inertial>
      <origin xyz="7e-05 0.001127 0.080286" rpy="0.0 0.0 0.0"/>
      <mass value="0.6357799999999997"/>
      <inertia ixx="0.0005099900001544764" ixy="-2.2297207206594354e-07" ixz="-4.0468474586715554e-07" iyy="0.0005163300270204655" iyz="-4.423298448630883e-05" izz="0.00046536997282505774"/>
    </inertial>
    <visual name="ARElbow_Link_Visual">
      <origin xyz="0.0 -0.0 0.0" rpy="0.0 0.0 3.141593"/>
      <geometry>
        <mesh filename="../meshes/ARElbow_Link.stl" scale="1.0 1.0 1.0"/>
      </geometry>
      <material name="">
        <color rgba="0.75294 0.75294 0.75294 1.0"/>
      </material>
    </visual>
    <collision name="ARElbow_Link_Collision">
      <origin xyz="0.0 0.0 0.0" rpy="0.0 0.0 0.0"/>
      <geometry>
        <mesh filename="../meshes/ARElbow_Link_convexhull.stl" scale="1.0 1.0 1.0"/>
      </geometry>
    </collision>
  </link>
  <joint name="ARShoulder1" type="revolute">
    <origin xyz="0.1076 0.0 0.0" rpy="-3.141585 0.0 3.141593"/>
    <axis xyz="1.0 0.0 0.0"/>
    <parent link="ARBase_Link"/>
    <child link="ARShoulder1_Link"/>
    <limit effort="400.0" lower="-3.141" upper="3.141" velocity="3.1415926"/>
  </joint>
  <link name="ARShoulder1_Link">
    <inertial>
      <origin xyz="0.009157 0.003646 -0.000169" rpy="0.0 0.0 0.0"/>
      <mass value="1.6019999999999996"/>
      <inertia ixx="0.0012116999440866811" ixy="8.070387961256474e-05" ixz="3.5280257083975037e-06" iyy="0.001556100057542011" iyz="-2.650928692723903e-06" izz="0.0010023999983713062"/>
    </inertial>
    <visual name="ARShoulder1_Link_Visual">
      <origin xyz="0.0 0.0 0.0" rpy="0.0 0.0 3.141593"/>
      <geometry>
        <mesh filename="../meshes/ARShoulder1_Link.stl" scale="1.0 1.0 1.0"/>
      </geometry>
      <material name="">
        <color rgba="0.75294 0.75294 0.75294 1.0"/>
      </material>
    </visual>
    <collision name="ARShoulder1_Link_Collision">
      <origin xyz="0.0 0.0 0.0" rpy="0.0 0.0 0.0"/>
      <geometry>
        <mesh filename="../meshes/ARShoulder1_Link_convexhull.stl" scale="1.0 1.0 1.0"/>
      </geometry>
    </collision>
  </link>
  <joint name="ARShoulder2" type="revolute">
    <origin xyz="0.0 0.0 0.0" rpy="0.0 0.0 -3.141592"/>
    <axis xyz="0.0 1.0 0.0"/>
    <parent link="ARShoulder1_Link"/>
    <child link="ARShoulder2_Link"/>
    <limit effort="400.0" lower="-0.253" upper="1.85" velocity="3.1415926"/>
  </joint>
  <link name="ARShoulder2_Link">
    <inertial>
      <origin xyz="0.010763 -0.020477 0.0278" rpy="0.0 0.0 0.0"/>
      <mass value="0.5084917431461261"/>
      <inertia ixx="0.0010464999259024192" ixy="-0.00012061005396444852" ixz="5.485487847357631e-05" iyy="0.0009256802430528081" iyz="-0.0002750100517516733" izz="0.0010392998310447714"/>
    </inertial>
    <visual name="ARShoulder2_Link_Visual">
      <origin xyz="0.0 0.0 0.0" rpy="0.0 0.0 0.0"/>
      <geometry>
        <mesh filename="../meshes/ARShoulder2_Link.stl" scale="1.0 1.0 1.0"/>
      </geometry>
      <material name="">
        <color rgba="0.75294 0.75294 0.75294 1.0"/>
      </material>
    </visual>
    <collision name="ARShoulder2_Link_Collision">
      <origin xyz="0.0 0.0 0.0" rpy="0.0 0.0 0.0"/>
      <geometry>
        <mesh filename="../meshes/ARShoulder2_Link_convexhull.stl" scale="1.0 1.0 1.0"/>
      </geometry>
    </collision>
  </link>
  <joint name="ARShoulder3" type="revolute">
    <origin xyz="0.0 0.0 0.0" rpy="-3.141593 1e-06 -1.5707"/>
    <axis xyz="0.0 0.0 1.0"/>
    <parent link="ARShoulder2_Link"/>
    <child link="ARShoulder3_Link"/>
    <limit effort="400.0" lower="-3.141" upper="3.141" velocity="3.1415926"/>
  </joint>
  <link name="ARShoulder3_Link">
    <inertial>
      <origin xyz="-3.3e-05 0.003369 -0.14648" rpy="0.0 0.0 0.0"/>
      <mass value="0.8525751706215601"/>
      <inertia ixx="0.0028013000003190894" ixy="5.193714519100651e-07" ixz="7.258930202151745e-07" iyy="0.002740099961802801" iyz="-5.467267704269619e-05" izz="0.000786290037878108"/>
    </inertial>
    <visual name="ARShoulder3_Link_Visual">
      <origin xyz="0.0 0.0 0.0" rpy="3.141593 0.0 0.0"/>
      <geometry>
        <mesh filename="../meshes/ARShoulder3_Link.stl" scale="1.0 1.0 1.0"/>
      </geometry>
      <material name="">
        <color rgba="0.75294 0.75294 0.75294 1.0"/>
      </material>
    </visual>
    <collision name="ARShoulder3_Link_Collision">
      <origin xyz="0.0 0.0 0.0" rpy="0.0 0.0 0.0"/>
      <geometry>
        <mesh filename="../meshes/ARShoulder3_Link_convexhull.stl" scale="1.0 1.0 1.0"/>
      </geometry>
    </collision>
  </link>
  <joint name="ARWristAL1" type="revolute">
    <origin xyz="0.0155 -0.034 0.178" rpy="-1.553093 0.0 3.141592"/>
    <axis xyz="1.0 0.0 0.0"/>
    <parent link="ARWristRoot_Link"/>
    <child link="ARWristAL1_Link"/>
    <limit effort="400.0" lower="-1.57" upper="1.57" velocity="3.1415926"/>
  </joint>
  <link name="ARWristAL1_Link">
    <inertial>
      <origin xyz="-5e-06 0.060513 8.2e-05" rpy="0.0 0.0 0.0"/>
      <mass value="0.11027956817212799"/>
      <inertia ixx="1.42606022882383e-05" ixy="1.1834937974475046e-10" ixz="1.555953533081748e-09" iyy="1.0001497220687136e-05" iyz="-8.070848165972657e-08" izz="1.4350648636972524e-05"/>
    </inertial>
    <visual name="ARWristAL1_Link_Visual">
      <origin xyz="0.0 0.0 0.0" rpy="-3.141593 0.0 -3.141593"/>
      <geometry>
        <mesh filename="../meshes/ARWrist_AL1_Link.stl" scale="1.0 1.0 1.0"/>
      </geometry>
      <material name="">
        <color rgba="0.898039215686275 0.917647058823529 0.929411764705882 1.0"/>
      </material>
    </visual>
    <collision name="ARWristAL1_Link_Collision">
      <origin xyz="0.0 0.0 0.0" rpy="0.0 0.0 0.0"/>
      <geometry>
        <mesh filename="../meshes/ARWrist_AL1_Link_convexhull.stl" scale="1.0 1.0 1.0"/>
      </geometry>
    </collision>
  </link>
  <joint name="ARWristAR1" type="revolute">
    <origin xyz="-0.0155 -0.034 0.178" rpy="-1.553093 0.0 3.141592"/>
    <axis xyz="1.0 0.0 0.0"/>
    <parent link="ARWristRoot_Link"/>
    <child link="ARWristAR1_Link"/>
    <limit effort="400.0" lower="-1.57" upper="1.57" velocity="3.1415926"/>
  </joint>
  <link name="ARWristAR1_Link">
    <inertial>
      <origin xyz="-0.0 0.058479 9.4e-05" rpy="0.0 0.0 0.0"/>
      <mass value="0.10112999999999997"/>
      <inertia ixx="1.4212213742458261e-05" ixy="1.1891377579045092e-10" ixz="1.482689765519501e-10" iyy="1.0001513742563879e-05" iyz="-8.07089999579205e-08" izz="1.4303213742665143e-05"/>
    </inertial>
    <visual name="ARWristAR1_Link_Visual">
      <origin xyz="0.0 0.0 0.0" rpy="-3.141593 0.0 -3.141593"/>
      <geometry>
        <mesh filename="../meshes/ARWrist_AR1_Link.stl" scale="1.0 1.0 1.0"/>
      </geometry>
      <material name="">
        <color rgba="0.89804 0.91765 0.92941 1.0"/>
      </material>
    </visual>
    <collision name="ARWristAR1_Link_Collision">
      <origin xyz="0.0 0.0 0.0" rpy="0.0 0.0 0.0"/>
      <geometry>
        <mesh filename="../meshes/ARWrist_AR1_Link_convexhull.stl" scale="1.0 1.0 1.0"/>
      </geometry>
    </collision>
  </link>
  <joint name="ARWristActL" type="prismatic">
    <origin xyz="0.0 0.13346 0.0" rpy="1.5708 0.0 -3.141593"/>
    <axis xyz="0.0 0.0 1.0"/>
    <parent link="ARWristAL1_Link"/>
    <child link="ARWristActL_Link"/>
    <limit effort="400.0" lower="-1.57" upper="1.57" velocity="3.1415926"/>
  </joint>
  <link name="ARWristActL_Link">
    <inertial>
      <origin xyz="0.0 0.0 -0.049176" rpy="0.0 0.0 0.0"/>
      <mass value="0.022414999999999987"/>
      <inertia ixx="2.2515569999998444e-05" ixy="-5.7141160926537444e-15" ixz="4.4123355091187445e-12" iyy="2.2496570000000005e-05" iyz="-2.923012745974418e-15" izz="1.0000000000001556e-05"/>
    </inertial>
    <visual name="ARWristActL_Link_Visual">
      <origin xyz="0.0 0.0 0.0" rpy="0.0 0.0 -3.141593"/>
      <geometry>
        <mesh filename="../meshes/ARWrist_ActL_Link.stl" scale="1.0 1.0 1.0"/>
      </geometry>
      <material name="">
        <color rgba="0.77647 0.75686 0.73725 1.0"/>
      </material>
    </visual>
    <collision name="ARWristActL_Link_Collision">
      <origin xyz="0.0 0.0 0.0" rpy="0.0 0.0 0.0"/>
      <geometry>
        <mesh filename="../meshes/ARWrist_ActL_Link_convexhull.stl" scale="1.0 1.0 1.0"/>
      </geometry>
    </collision>
  </link>
  <joint name="ARWristActR" type="prismatic">
    <origin xyz="0.0 0.13346 0.0" rpy="1.5708 0.0 -3.141593"/>
    <axis xyz="0.0 0.0 1.0"/>
    <parent link="ARWristAR1_Link"/>
    <child link="ARWristActR_Link"/>
    <limit effort="400.0" lower="-1.57" upper="1.57" velocity="3.1415926"/>
  </joint>
  <link name="ARWristActR_Link">
    <inertial>
      <origin xyz="0.0 0.0 -0.049176" rpy="0.0 0.0 0.0"/>
      <mass value="0.022415478206029786"/>
      <inertia ixx="2.2515773917037203e-05" ixy="-5.823052830156676e-15" ixz="4.412407393697763e-12" iyy="2.2496459399899276e-05" iyz="-2.923111850980787e-15" izz="1.0000000000001556e-05"/>
    </inertial>
    <visual name="ARWristActR_Link_Visual">
      <origin xyz="0.0 0.0 0.0" rpy="0.0 0.0 -3.141593"/>
      <geometry>
        <mesh filename="../meshes/ARWrist_ActR_Link.stl" scale="1.0 1.0 1.0"/>
      </geometry>
      <material name="">
        <color rgba="0.776470588235294 0.756862745098039 0.737254901960784 1.0"/>
      </material>
    </visual>
    <collision name="ARWristActR_Link_Collision">
      <origin xyz="0.0 0.0 0.0" rpy="0.0 0.0 0.0"/>
      <geometry>
        <mesh filename="../meshes/ARWrist_ActR_Link_convexhull.stl" scale="1.0 1.0 1.0"/>
      </geometry>
    </collision>
  </link>
  <joint name="ARWristBL0" type="revolute">
    <origin xyz="0.0 0.0 0.045018" rpy="0.0 0.0 3.141592"/>
    <axis xyz="1.0 0.0 0.0"/>
    <parent link="ARWristBL3_Link"/>
    <child link="ARWristBL0_Link"/>
    <limit effort="400.0" lower="-1.57" upper="1.57" velocity="3.1415926"/>
  </joint>
  <link name="ARWristBL0_Link">
    <inertial>
      <origin xyz="0.0 0.0 0.0" rpy="0.0 0.0 0.0"/>
      <mass value="1e-05"/>
      <inertia ixx="1e-05" ixy="0.0" ixz="0.0" iyy="1e-05" iyz="0.0" izz="1e-05"/>
    </inertial>
  </link>
  <joint name="ARWristBL1" type="revolute">
    <origin xyz="0.0155 0.011 0.032" rpy="0.259193 0.0 3.141592"/>
    <axis xyz="1.0 0.0 0.0"/>
    <parent link="ARWristRoot_Link"/>
    <child link="ARWristBL1_Link"/>
    <limit effort="400.0" lower="-1.57" upper="1.57" velocity="3.1415926"/>
  </joint>
  <link name="ARWristBL1_Link">
    <inertial>
      <origin xyz="-0.001915 0.02635 0.001041" rpy="0.0 0.0 0.0"/>
      <mass value="0.024008000000000012"/>
      <inertia ixx="1.3690309326297567e-05" ixy="1.5146961171299974e-12" ixz="-5.440676590840389e-14" iyy="1.0041289326298746e-05" iyz="3.866799999999256e-07" izz="1.3621309326298153e-05"/>
    </inertial>
    <visual name="ARWristBL1_Link_Visual">
      <origin xyz="0.0 0.0 0.0" rpy="0.0 0.0 0.0"/>
      <geometry>
        <mesh filename="../meshes/ARWrist_BL1_Link.stl" scale="1.0 1.0 1.0"/>
      </geometry>
      <material name="">
        <color rgba="0.89804 0.91765 0.92941 1.0"/>
      </material>
    </visual>
    <collision name="ARWristBL1_Link_Collision">
      <origin xyz="0.0 0.0 0.0" rpy="0.0 0.0 0.0"/>
      <geometry>
        <mesh filename="../meshes/ARWrist_BL1_Link_convexhull.stl" scale="1.0 1.0 1.0"/>
      </geometry>
    </collision>
  </link>
  <joint name="ARWristBL2" type="revolute">
    <origin xyz="0.0 0.0 0.0" rpy="0.0 0.0 -3.141592"/>
    <axis xyz="0.0 1.0 0.0"/>
    <parent link="ARWristBL0_Link"/>
    <child link="ARWristBL2_Link"/>
    <limit effort="400.0" lower="-1.57" upper="1.57" velocity="3.1415926"/>
  </joint>
  <link name="ARWristBL2_Link">
    <inertial>
      <origin xyz="-0.002859 0.0 4.9e-05" rpy="0.0 0.0 0.0"/>
      <mass value="0.003730583331722572"/>
      <inertia ixx="1.0000022086181487e-05" ixy="2.3475959017441574e-13" ixz="1.2800625228418757e-09" iyy="1.007421474746067e-05" iyz="3.1032040435995356e-13" izz="1.00741893801741e-05"/>
    </inertial>
    <visual name="ARWristBL2_Link_Visual">
      <origin xyz="0.0 0.0 0.0" rpy="0.0 0.0 -3.141593"/>
      <geometry>
        <mesh filename="../meshes/ARWrist_BL2_Link.stl" scale="1.0 1.0 1.0"/>
      </geometry>
      <material name="">
        <color rgba="0.647058823529412 0.619607843137255 0.588235294117647 1.0"/>
      </material>
    </visual>
    <collision name="ARWristBL2_Link_Collision">
      <origin xyz="0.0 0.0 0.0" rpy="0.0 0.0 0.0"/>
      <geometry>
        <mesh filename="../meshes/ARWrist_BL2_Link_convexhull.stl" scale="1.0 1.0 1.0"/>
      </geometry>
    </collision>
  </link>
  <joint name="ARWristBL3" type="revolute">
    <origin xyz="0.0 0.0 0.0" rpy="0.0 -0.017255 -3.141592"/>
    <axis xyz="0.0 1.0 0.0"/>
    <parent link="ARWristBL4_Link"/>
    <child link="ARWristBL3_Link"/>
    <limit effort="400.0" lower="-1.57" upper="1.57" velocity="3.1415926"/>
  </joint>
  <link name="ARWristBL3_Link">
    <inertial>
      <origin xyz="2.4e-05 0.0 0.028302" rpy="0.0 0.0 0.0"/>
      <mass value="0.016343668811119795"/>
      <inertia ixx="1.0588437589345121e-05" ixy="-2.694579659860282e-12" ixz="3.9717064992779286e-10" iyy="1.04422980274748e-05" iyz="1.0476070445409481e-11" izz="1.0000000268321719e-05"/>
    </inertial>
    <visual name="ARWristBL3_Link_Visual">
      <origin xyz="0.0 0.0 0.0" rpy="0.0 0.0 -3.141593"/>
      <geometry>
        <mesh filename="../meshes/ARWrist_BL3_Link.stl" scale="1.0 1.0 1.0"/>
      </geometry>
      <material name="">
        <color rgba="0.898039215686275 0.917647058823529 0.929411764705882 1.0"/>
      </material>
    </visual>
    <collision name="ARWristBL3_Link_Collision">
      <origin xyz="0.0 0.0 0.0" rpy="0.0 0.0 0.0"/>
      <geometry>
        <mesh filename="../meshes/ARWrist_BL3_Link_convexhull.stl" scale="1.0 1.0 1.0"/>
      </geometry>
    </collision>
  </link>
  <joint name="ARWristBL4" type="revolute">
    <origin xyz="0.027 -0.03 0.0" rpy="-0.141793 0.0 3.141592"/>
    <axis xyz="1.0 0.0 0.0"/>
    <parent link="ARWristYaw_Link"/>
    <child link="ARWristBL4_Link"/>
    <limit effort="400.0" lower="-1.57" upper="1.57" velocity="3.1415926"/>
  </joint>
  <link name="ARWristBL4_Link">
    <inertial>
      <origin xyz="0.002214 0.0 0.0" rpy="0.0 0.0 0.0"/>
      <mass value="0.0116530368127355"/>
      <inertia ixx="1.0000000000000031e-05" ixy="-9.517183235429624e-14" ixz="-9.24437170482028e-15" iyy="1.02775224788874e-05" iyz="-9.076970388458057e-16" izz="1.0188830976875944e-05"/>
    </inertial>
    <visual name="ARWristBL4_Link_Visual">
      <origin xyz="0.0 0.0 0.0" rpy="0.0 0.0 0.0"/>
      <geometry>
        <mesh filename="../meshes/ARWrist_BL4_Link.stl" scale="1.0 1.0 1.0"/>
      </geometry>
      <material name="">
        <color rgba="0.776470588235294 0.756862745098039 0.737254901960784 1.0"/>
      </material>
    </visual>
    <collision name="ARWristBL4_Link_Collision">
      <origin xyz="0.0 0.0 0.0" rpy="0.0 0.0 0.0"/>
      <geometry>
        <mesh filename="../meshes/ARWrist_BL4_Link_convexhull.stl" scale="1.0 1.0 1.0"/>
      </geometry>
    </collision>
  </link>
  <joint name="ARWristBR0" type="revolute">
    <origin xyz="0.0 0.0 0.045018" rpy="0.0 0.0 3.141592"/>
    <axis xyz="1.0 0.0 0.0"/>
    <parent link="ARWristBR3_Link"/>
    <child link="ARWristBR0_Link"/>
    <limit effort="400.0" lower="-1.57" upper="1.57" velocity="3.1415926"/>
  </joint>
  <link name="ARWristBR0_Link">
    <inertial>
      <origin xyz="0.0 0.0 0.0" rpy="0.0 0.0 0.0"/>
      <mass value="1e-05"/>
      <inertia ixx="1e-05" ixy="0.0" ixz="0.0" iyy="1e-05" iyz="0.0" izz="1e-05"/>
    </inertial>
  </link>
  <joint name="ARWristBR1" type="revolute">
    <origin xyz="-0.0155 0.011 0.032" rpy="0.259193 0.0 3.141592"/>
    <axis xyz="1.0 0.0 0.0"/>
    <parent link="ARWristRoot_Link"/>
    <child link="ARWristBR1_Link"/>
    <limit effort="400.0" lower="-1.57" upper="1.57" velocity="3.1415926"/>
  </joint>
  <link name="ARWristBR1_Link">
    <inertial>
      <origin xyz="0.001915 0.02635 0.001041" rpy="0.0 0.0 0.0"/>
      <mass value="0.024008000000000012"/>
      <inertia ixx="1.3690545308238087e-05" ixy="1.3711412479914173e-12" ixz="-1.7390764236681272e-13" iyy="1.0041345308239099e-05" iyz="3.869599999998984e-07" izz="1.362164530823862e-05"/>
    </inertial>
    <visual name="ARWristBR1_Link_Visual">
      <origin xyz="0.0 0.0 0.0" rpy="0.0 0.0 0.0"/>
      <geometry>
        <mesh filename="../meshes/ARWrist_BR1_Link.stl" scale="1.0 1.0 1.0"/>
      </geometry>
      <material name="">
        <color rgba="0.89804 0.91765 0.92941 1.0"/>
      </material>
    </visual>
    <collision name="ARWristBR1_Link_Collision">
      <origin xyz="0.0 0.0 0.0" rpy="0.0 0.0 0.0"/>
      <geometry>
        <mesh filename="../meshes/ARWrist_BR1_Link_convexhull.stl" scale="1.0 1.0 1.0"/>
      </geometry>
    </collision>
  </link>
  <joint name="ARWristBR2" type="revolute">
    <origin xyz="0.0 0.0 0.0" rpy="0.0 0.0 -3.141592"/>
    <axis xyz="0.0 1.0 0.0"/>
    <parent link="ARWristBR0_Link"/>
    <child link="ARWristBR2_Link"/>
    <limit effort="400.0" lower="-1.57" upper="1.57" velocity="3.1415926"/>
  </joint>
  <link name="ARWristBR2_Link">
    <inertial>
      <origin xyz="-0.002859 0.0 4.9e-05" rpy="0.0 0.0 0.0"/>
      <mass value="0.0037305447563014613"/>
      <inertia ixx="1.0000022093775196e-05" ixy="1.6121261596524313e-13" ixz="1.280310018142885e-09" iyy="1.0074212979026307e-05" iyz="1.0105450335781848e-12" izz="1.0074192560969954e-05"/>
    </inertial>
    <visual name="ARWristBR2_Link_Visual">
      <origin xyz="0.0 0.0 0.0" rpy="0.0 0.0 3.141593"/>
      <geometry>
        <mesh filename="../meshes/ARWrist_BR2_Link.stl" scale="1.0 1.0 1.0"/>
      </geometry>
      <material name="">
        <color rgba="0.647058823529412 0.619607843137255 0.588235294117647 1.0"/>
      </material>
    </visual>
    <collision name="ARWristBR2_Link_Collision">
      <origin xyz="0.0 0.0 0.0" rpy="0.0 0.0 0.0"/>
      <geometry>
        <mesh filename="../meshes/ARWrist_BR2_Link_convexhull.stl" scale="1.0 1.0 1.0"/>
      </geometry>
    </collision>
  </link>
  <joint name="ARWristBR3" type="revolute">
    <origin xyz="0.0 0.0 0.0" rpy="0.0 -0.017255 -3.141592"/>
    <axis xyz="0.0 1.0 0.0"/>
    <parent link="ARWristBR4_Link"/>
    <child link="ARWristBR3_Link"/>
    <limit effort="400.0" lower="-1.57" upper="1.57" velocity="3.1415926"/>
  </joint>
  <link name="ARWristBR3_Link">
    <inertial>
      <origin xyz="2.4e-05 0.0 0.028302" rpy="0.0 0.0 0.0"/>
      <mass value="0.016343666311700304"/>
      <inertia ixx="1.0588437511113046e-05" ixy="-3.928745829304398e-12" ixz="3.9711659584647646e-10" iyy="1.0442298557727444e-05" iyz="9.935123851420574e-12" izz="1.0000000268223861e-05"/>
    </inertial>
    <visual name="ARWristBR3_Link_Visual">
      <origin xyz="0.0 0.0 0.0" rpy="0.0 0.0 3.141593"/>
      <geometry>
        <mesh filename="../meshes/ARWrist_BR3_Link.stl" scale="1.0 1.0 1.0"/>
      </geometry>
      <material name="">
        <color rgba="0.529411764705882 0.549019607843137 0.549019607843137 1.0"/>
      </material>
    </visual>
    <collision name="ARWristBR3_Link_Collision">
      <origin xyz="0.0 0.0 0.0" rpy="0.0 0.0 0.0"/>
      <geometry>
        <mesh filename="../meshes/ARWrist_BR3_Link_convexhull.stl" scale="1.0 1.0 1.0"/>
      </geometry>
    </collision>
  </link>
  <joint name="ARWristBR4" type="revolute">
    <origin xyz="-0.027 -0.03 0.0" rpy="0.141793 0.0 -8e-06"/>
    <axis xyz="1.0 0.0 0.0"/>
    <parent link="ARWristYaw_Link"/>
    <child link="ARWristBR4_Link"/>
    <limit effort="400.0" lower="-1.57" upper="1.57" velocity="3.1415926"/>
  </joint>
  <link name="ARWristBR4_Link">
    <inertial>
      <origin xyz="0.002214 0.0 0.0" rpy="0.0 0.0 0.0"/>
      <mass value="0.011653036812768903"/>
      <inertia ixx="1.0000000000000031e-05" ixy="-9.5171739403622e-14" ixz="9.244404617709602e-15" iyy="1.0277522478885879e-05" iyz="-9.049494430282981e-16" izz="1.0188830976877643e-05"/>
    </inertial>
    <visual name="ARWristBR4_Link_Visual">
      <origin xyz="0.0 0.0 0.0" rpy="0.0 0.0 0.0"/>
      <geometry>
        <mesh filename="../meshes/ARWrist_BR4_Link.stl" scale="1.0 1.0 1.0"/>
      </geometry>
      <material name="">
        <color rgba="0.647058823529412 0.619607843137255 0.588235294117647 1.0"/>
      </material>
    </visual>
    <collision name="ARWristBR4_Link_Collision">
      <origin xyz="0.0 0.0 0.0" rpy="0.0 0.0 0.0"/>
      <geometry>
        <mesh filename="../meshes/ARWrist_BR4_Link_convexhull.stl" scale="1.0 1.0 1.0"/>
      </geometry>
    </collision>
  </link>
  <joint name="ARWristBase" type="fixed">
    <origin xyz="0.0 0.0 0.168" rpy="-0.016107 1.570793 3.125485"/>
    <parent link="ARWristRoot_Link"/>
    <child link="ARWristBase_Link"/>
  </joint>
  <link name="ARWristBase_Link">
    <inertial>
      <origin xyz="0.05416 0.00429 -5.5e-05" rpy="0.0 0.0 0.0"/>
      <mass value="0.27602181682106586"/>
      <inertia ixx="0.0004818694935696462" ixy="-1.8939997715257535e-05" ixz="-1.915496021566553e-08" iyy="0.0012988608884876524" iyz="3.569127035083581e-07" izz="0.0012914088951100598"/>
    </inertial>
    <visual name="ARWristBase_Link_Visual">
      <origin xyz="0.0 0.0 0.0" rpy="3.141593 0.0 0.0"/>
      <geometry>
        <mesh filename="../meshes/ARWrist_Base_Link.stl" scale="1.0 1.0 1.0"/>
      </geometry>
      <material name="">
        <color rgba="0.898039215686275 0.917647058823529 0.929411764705882 1.0"/>
      </material>
    </visual>
    <collision name="ARWristBase_Link_Collision">
      <origin xyz="0.0 0.0 0.0" rpy="0.0 0.0 0.0"/>
      <geometry>
        <mesh filename="../meshes/ARWrist_Base_Link_convexhull.stl" scale="1.0 1.0 1.0"/>
      </geometry>
    </collision>
  </link>
  <joint name="ARWristFT" type="fixed">
    <origin xyz="-1.2e-05 0.0 -0.042748" rpy="3.141593 0.0 1.5708"/>
    <parent link="ARWristYaw_Link"/>
    <child link="ARWristFT_Link"/>
  </joint>
  <link name="ARWristFT_Link">
    <inertial>
      <origin xyz="-3.7e-05 5.8e-05 -0.007912" rpy="0.0 0.0 0.0"/>
      <mass value="0.0919909344513703"/>
      <inertia ixx="1.3951813166732569e-05" ixy="3.05326895417141e-08" ixz="-1.4763455306581984e-08" iyy="1.3907068368118933e-05" iyz="1.948139215462272e-08" izz="2.41202226678126e-05"/>
    </inertial>
    <visual name="ARWristFT_Link_Visual">
      <origin xyz="0.0 -0.0 0.0" rpy="0.0 0.0 3.141593"/>
      <geometry>
        <mesh filename="../meshes/ARWristFT_Link.stl" scale="1.0 1.0 1.0"/>
      </geometry>
      <material name="">
        <color rgba="0.698039215686274 0.698039215686274 0.698039215686274 1.0"/>
      </material>
    </visual>
    <collision name="ARWristFT_Link_Collision">
      <origin xyz="0.0 0.0 0.0" rpy="0.0 0.0 0.0"/>
      <geometry>
        <mesh filename="../meshes/ARWristFT_Link_convexhull.stl" scale="1.0 1.0 1.0"/>
      </geometry>
    </collision>
  </link>
  <joint name="ARWristPitch" type="revolute">
    <origin xyz="0.0 0.0 0.0" rpy="-0.0 0.0 -1e-06"/>
    <axis xyz="1.0 0.0 0.0"/>
    <parent link="ARWristRoot_Link"/>
    <child link="ARWristPitch_Link"/>
    <limit effort="400.0" lower="-0.741" upper="1.75" velocity="3.1415926"/>
  </joint>
  <link name="ARWristPitch_Link">
    <inertial>
      <origin xyz="0.0 0.0 0.0" rpy="0.0 0.0 0.0"/>
      <mass value="0.030345802955544107"/>
      <inertia ixx="1.0000000011242574e-05" ixy="-9.966047055450726e-14" ixz="-1.3686119410217597e-10" iyy="1.014377905770101e-05" iyz="-1.3704172984466683e-10" izz="1.1666089364253713e-05"/>
    </inertial>
    <visual name="ARWristPitch_Link_Visual">
      <origin xyz="0.0 0.0 0.0" rpy="3.141593 0.0 -0.0"/>
      <geometry>
        <mesh filename="../meshes/ARWristPitch_Link.stl" scale="1.0 1.0 1.0"/>
      </geometry>
      <material name="">
        <color rgba="0.647058823529412 0.619607843137255 0.588235294117647 1.0"/>
      </material>
    </visual>
    <collision name="ARWristPitch_Link_Collision">
      <origin xyz="0.0 0.0 0.0" rpy="0.0 0.0 0.0"/>
      <geometry>
        <mesh filename="../meshes/ARWristPitch_Link_convexhull.stl" scale="1.0 1.0 1.0"/>
      </geometry>
    </collision>
  </link>
  <joint name="ARWristRoll" type="revolute">
    <origin xyz="0.0 0.0 0.122" rpy="0.08344 1.570793 -3.058159"/>
    <axis xyz="1.0 0.0 0.0"/>
    <parent link="ARElbow_Link"/>
    <child link="ARWristRoll_Link"/>
    <limit effort="400.0" lower="-3.141" upper="3.141" velocity="3.1415926"/>
  </joint>
  <link name="ARWristRoll_Link">
    <inertial>
      <origin xyz="0.0 0.0 0.0" rpy="0.0 0.0 0.0"/>
      <mass value="2e-05"/>
      <inertia ixx="2.0000000000000005e-05" ixy="1.6461063629699659e-22" ixz="1.778282480377345e-23" iyy="2.0000000000000005e-05" iyz="-8.470324889451552e-22" izz="2e-05"/>
    </inertial>
  </link>
  <joint name="ARWristRoot" type="fixed">
    <origin xyz="-0.173 0.0 0.0" rpy="-0.010381 -1.5707 -3.131212"/>
    <parent link="ARWristRoll_Link"/>
    <child link="ARWristRoot_Link"/>
  </joint>
  <link name="ARWristRoot_Link">
    <inertial>
      <origin xyz="-0.000875 0.015651 0.10982" rpy="0.0 0.0 0.0"/>
      <mass value="0.12307001358415799"/>
      <inertia ixx="1.6915e-05" ixy="-1.0690005486444212e-08" ixz="1.5837996296873942e-08" iyy="2.9632000408180187e-05" iyz="-5.891545378037206e-07" izz="1.3863999591819818e-05"/>
    </inertial>
    <visual name="ARWristRoot_Link_Visual">
      <origin xyz="0.0 0.0 0.0" rpy="0.0 0.0 0.0"/>
      <geometry>
        <mesh filename="../meshes/ARWrist_Root_Link.stl" scale="1.0 1.0 1.0"/>
      </geometry>
      <material name="">
        <color rgba="0.64706 0.61961 0.58824 1.0"/>
      </material>
    </visual>
    <collision name="ARWristRoot_Link_Collision">
      <origin xyz="0.0 0.0 0.0" rpy="0.0 0.0 0.0"/>
      <geometry>
        <mesh filename="../meshes/ARWrist_Root_Link_convexhull.stl" scale="1.0 1.0 1.0"/>
      </geometry>
    </collision>
  </link>
  <joint name="ARWristYaw" type="revolute">
    <origin xyz="0.0 0.0 0.0" rpy="0.0 0.0 1e-06"/>
    <axis xyz="0.0 1.0 0.0"/>
    <parent link="ARWristPitch_Link"/>
    <child link="ARWristYaw_Link"/>
    <limit effort="400.0" lower="-0.558" upper="0.593" velocity="3.1415926"/>
  </joint>
  <link name="ARWristYaw_Link">
    <inertial>
      <origin xyz="-6e-05 -0.011222 -0.011777" rpy="0.0 0.0 0.0"/>
      <mass value="0.04402665761680324"/>
      <inertia ixx="1.4523374545063202e-05" ixy="3.5210414776992013e-09" ixz="-1.8323837570945907e-08" iyy="1.0332755928692055e-05" iyz="1.476819147742914e-06" izz="1.6554592724183995e-05"/>
    </inertial>
    <visual name="ARWristYaw_Link_Visual">
      <origin xyz="0.0 0.0 0.0" rpy="3.141593 0.0 3.141592"/>
      <geometry>
        <mesh filename="../meshes/ARWristYaw_Link.stl" scale="1.0 1.0 1.0"/>
      </geometry>
      <material name="">
        <color rgba="0.898039215686275 0.917647058823529 0.929411764705882 1.0"/>
      </material>
    </visual>
    <collision name="ARWristYaw_Link_Collision">
      <origin xyz="0.0 0.0 0.0" rpy="0.0 0.0 0.0"/>
      <geometry>
        <mesh filename="../meshes/ARWristYaw_Link_convexhull.stl" scale="1.0 1.0 1.0"/>
      </geometry>
    </collision>
  </link>
  <joint name="BodyActL" type="prismatic">
    <origin xyz="0.0 0.0 0.23999" rpy="0.0 0.0 -0.0"/>
    <axis xyz="0.0 0.0 1.0"/>
    <parent link="BodyBL2_Link"/>
    <child link="BodyActL_Link"/>
    <limit effort="400.0" lower="-1.57" upper="1.57" velocity="3.1415926"/>
  </joint>
  <link name="BodyActL_Link">
    <inertial>
      <origin xyz="0.0 0.0 -0.077362" rpy="0.0 0.0 0.0"/>
      <mass value="0.10190000000000002"/>
      <inertia ixx="0.00013708249997353297" ixy="3.8201993071794706e-08" ixz="1.1083966073276513e-22" iyy="0.00013710250002646712" iyz="9.793800383959562e-22" izz="1.0000000000000003e-05"/>
    </inertial>
    <visual name="BodyActL_Visual">
      <origin xyz="0.0 0.0 0.0" rpy="0.0 0.0 -3.141593"/>
      <geometry>
        <mesh filename="../meshes/Body_ActL.stl"/>
      </geometry>
      <material name="">
        <color rgba="0.69804 0.69804 0.69804 1.0"/>
      </material>
    </visual>
    <collision name="BodyActL_Collision">
      <origin xyz="0.0 0.0 0.0" rpy="0.0 0.0 0.0"/>
      <geometry>
        <mesh filename="../meshes/Body_ActL_convexhull.stl" scale="1.0 1.0 1.0"/>
      </geometry>
    </collision>
  </link>
  <joint name="BodyActR" type="prismatic">
    <origin xyz="0.0 0.0 0.23999" rpy="0.0 0.0 -0.0"/>
    <axis xyz="0.0 0.0 1.0"/>
    <parent link="BodyBR2_Link"/>
    <child link="BodyActR_Link"/>
    <limit effort="400.0" lower="-1.57" upper="1.57" velocity="3.1415926"/>
  </joint>
  <link name="BodyActR_Link">
    <inertial>
      <origin xyz="0.0 0.0 -0.077362" rpy="0.0 0.0 0.0"/>
      <mass value="0.10190000000000002"/>
      <inertia ixx="0.00013708250002646719" ixy="-3.820200692820298e-08" ixz="2.0798008804014167e-17" iyy="0.00013710249997353285" iyz="-2.5414992795339697e-17" izz="1.0000000000000003e-05"/>
    </inertial>
    <visual name="BodyActR_Visual">
      <origin xyz="0.0 0.0 0.0" rpy="0.0 0.0 -3.141593"/>
      <geometry>
        <mesh filename="../meshes/Body_ActR.stl"/>
      </geometry>
      <material name="">
        <color rgba="0.69804 0.69804 0.69804 1.0"/>
      </material>
    </visual>
    <collision name="BodyActR_Collision">
      <origin xyz="0.0 0.0 0.0" rpy="0.0 0.0 0.0"/>
      <geometry>
        <mesh filename="../meshes/Body_ActR_convexhull.stl" scale="1.0 1.0 1.0"/>
      </geometry>
    </collision>
  </link>
  <joint name="BodyBL1" type="revolute">
    <origin xyz="0.02 -0.089827 0.21" rpy="2.899823 0.0 1.5708"/>
    <axis xyz="1.0 0.0 0.0"/>
    <parent link="BodyRoot_Link"/>
    <child link="BodyBL1_Link"/>
    <limit effort="400.0" lower="-1.57" upper="1.57" velocity="3.1415926"/>
  </joint>
  <link name="BodyBL1_Link">
    <inertial>
      <origin xyz="0.020399 0.0 0.0" rpy="0.0 0.0 0.0"/>
      <mass value="0.042423"/>
      <inertia ixx="1.0000000000001026e-05" ixy="-2.9574078259175723e-12" ixz="-6.764500061230576e-20" iyy="1.8537299999998983e-05" iyz="1.767562644587376e-21" izz="2.0306299999999996e-05"/>
    </inertial>
    <visual name="BodyBL1_Visual">
      <origin xyz="0.0 0.0 0.0" rpy="0.0 0.0 -3.141593"/>
      <geometry>
        <mesh filename="../meshes/Body_BL1.stl"/>
      </geometry>
      <material name="">
        <color rgba="0.64706 0.61961 0.58824 1.0"/>
      </material>
    </visual>
    <collision name="BodyBL1_Collision">
      <origin xyz="0.0 0.0 0.0" rpy="0.0 0.0 0.0"/>
      <geometry>
        <mesh filename="../meshes/Body_BL1_convexhull.stl" scale="1.0 1.0 1.0"/>
      </geometry>
    </collision>
  </link>
  <joint name="BodyBL2" type="revolute">
    <origin xyz="0.0 0.0 0.0" rpy="0.0 -0.010339 -0.0"/>
    <axis xyz="0.0 1.0 0.0"/>
    <parent link="BodyBL1_Link"/>
    <child link="BodyBL2_Link"/>
    <limit effort="400.0" lower="-1.57" upper="1.57" velocity="3.1415926"/>
  </joint>
  <link name="BodyBL2_Link">
    <inertial>
      <origin xyz="-5.3e-05 1.1e-05 0.12216" rpy="0.0 0.0 0.0"/>
      <mass value="0.8166400000000001"/>
      <inertia ixx="0.0004187999999241573" ixy="1.0946911318984479e-07" ixz="4.637099902145767e-07" iyy="0.00042136000007584283" iyz="2.8248160633875217e-08" izz="0.00051891"/>
    </inertial>
    <visual name="BodyBL2_Visual">
      <origin xyz="0.0 0.0 0.0" rpy="0.0 0.0 -3.141593"/>
      <geometry>
        <mesh filename="../meshes/Body_BL2.stl"/>
      </geometry>
      <material name="">
        <color rgba="0.61961 0.40784 0.2 1.0"/>
      </material>
    </visual>
    <collision name="BodyBL2_Collision">
      <origin xyz="0.0 0.0 0.0" rpy="0.0 0.0 0.0"/>
      <geometry>
        <mesh filename="../meshes/Body_BL2_convexhull.stl" scale="1.0 1.0 1.0"/>
      </geometry>
    </collision>
  </link>
  <joint name="BodyBR1" type="revolute">
    <origin xyz="-0.02 -0.089827 0.21" rpy="-2.899823 0.0 1.5708"/>
    <axis xyz="1.0 0.0 0.0"/>
    <parent link="BodyRoot_Link"/>
    <child link="BodyBR1_Link"/>
    <limit effort="400.0" lower="-1.57" upper="1.57" velocity="3.1415926"/>
  </joint>
  <link name="BodyBR1_Link">
    <inertial>
      <origin xyz="0.020399 0.0 0.0" rpy="0.0 0.0 0.0"/>
      <mass value="0.042423"/>
      <inertia ixx="1.0000000000001026e-05" ixy="-2.9574078244755723e-12" ixz="-6.968000025102942e-20" iyy="1.8537299999998983e-05" iyz="7.246474869280696e-22" izz="2.0306299999999996e-05"/>
    </inertial>
    <visual name="BodyBR1_Visual">
      <origin xyz="0.0 0.0 0.0" rpy="0.0 0.0 -3.141593"/>
      <geometry>
        <mesh filename="../meshes/Body_BR1.stl"/>
      </geometry>
      <material name="">
        <color rgba="0.64706 0.61961 0.58824 1.0"/>
      </material>
    </visual>
    <collision name="BodyBR1_Collision">
      <origin xyz="0.0 0.0 0.0" rpy="0.0 0.0 0.0"/>
      <geometry>
        <mesh filename="../meshes/Body_BR1_convexhull.stl" scale="1.0 1.0 1.0"/>
      </geometry>
    </collision>
  </link>
  <joint name="BodyBR2" type="revolute">
    <origin xyz="0.0 0.0 0.0" rpy="0.0 -0.010339 -0.0"/>
    <axis xyz="0.0 1.0 0.0"/>
    <parent link="BodyBR1_Link"/>
    <child link="BodyBR2_Link"/>
    <limit effort="400.0" lower="-1.57" upper="1.57" velocity="3.1415926"/>
  </joint>
  <link name="BodyBR2_Link">
    <inertial>
      <origin xyz="-6.2e-05 -1.2e-05 0.12216" rpy="0.0 0.0 0.0"/>
      <mass value="0.8166400000000001"/>
      <inertia ixx="0.00041874999995572364" ixy="6.390708201293713e-08" ixz="4.4057001108232887e-07" iyy="0.0004214000000442765" iyz="-3.199184738205335e-08" izz="0.00051891"/>
    </inertial>
    <visual name="BodyBR2_Visual">
      <origin xyz="0.0 0.0 0.0" rpy="0.0 0.0 -3.141593"/>
      <geometry>
        <mesh filename="../meshes/Body_BR2.stl"/>
      </geometry>
      <material name="">
        <color rgba="0.64706 0.61961 0.58824 1.0"/>
      </material>
    </visual>
    <collision name="BodyBR2_Collision">
      <origin xyz="0.0 0.0 0.0" rpy="0.0 0.0 0.0"/>
      <geometry>
        <mesh filename="../meshes/Body_BR2_convexhull.stl" scale="1.0 1.0 1.0"/>
      </geometry>
    </collision>
  </link>
  <joint name="BodyPitch" type="revolute">
    <origin xyz="0.0 0.0 0.0" rpy="3.141593 0.0 1.570797"/>
    <axis xyz="0.0 1.0 0.0"/>
    <parent link="BodyRoot_Link"/>
    <child link="BodyPitch_Link"/>
    <limit effort="400.0" lower="-0.349" upper="0.527" velocity="3.1415926"/>
  </joint>
  <link name="BodyPitch_Link">
    <inertial>
      <origin xyz="0.0 0.0 0.0" rpy="0.0 0.0 0.0"/>
      <mass value="0.076413"/>
      <inertia ixx="1.3771000000001387e-05" ixy="2.1212999999995475e-12" ixz="2.1080999098829268e-12" iyy="1.3770999999998615e-05" iyz="-2.7576068891630696e-13" izz="2.4637e-05"/>
    </inertial>
    <visual name="BodyPitch_Visual">
      <origin xyz="0.0 0.0 0.0" rpy="0.0 0.0 -1.570796"/>
      <geometry>
        <mesh filename="../meshes/BodyPitch.stl"/>
      </geometry>
      <material name="">
        <color rgba="0.89804 0.91765 0.92941 1.0"/>
      </material>
    </visual>
    <collision name="BodyPitch_Collision">
      <origin xyz="0.0 0.0 0.0" rpy="0.0 0.0 0.0"/>
      <geometry>
        <mesh filename="../meshes/BodyPitch_convexhull.stl" scale="1.0 1.0 1.0"/>
      </geometry>
    </collision>
  </link>
  <joint name="BodyRoll" type="revolute">
    <origin xyz="0.0 0.0 0.0" rpy="0.0 0.0 -0.0"/>
    <axis xyz="1.0 0.0 0.0"/>
    <parent link="BodyPitch_Link"/>
    <child link="BodyRoll_Link"/>
    <limit effort="400.0" lower="-0.448" upper="0.448" velocity="3.1415926"/>
  </joint>
  <link name="BodyRoll_Link">
    <inertial>
      <origin xyz="-0.009734 1.6e-05 0.052947" rpy="0.0 0.0 0.0"/>
      <mass value="1.4553"/>
      <inertia ixx="0.001065799999518147" ixy="-7.372513070271073e-07" ixz="-6.32019993920274e-06" iyy="0.001000600000481853" iyz="1.8604206540909618e-07" izz="0.0017602"/>
    </inertial>
    <visual name="BodyRoll_Visual">
      <origin xyz="0.0 0.0 0.0" rpy="0.0 0.0 -1.570796"/>
      <geometry>
        <mesh filename="../meshes/BodyRoll.stl"/>
      </geometry>
      <material name="">
        <color rgba="0.89804 0.91765 0.92941 1.0"/>
      </material>
    </visual>
    <collision name="BodyRoll_Collision">
      <origin xyz="0.0 0.0 0.0" rpy="0.0 0.0 0.0"/>
      <geometry>
        <mesh filename="../meshes/BodyRoll_convexhull.stl" scale="1.0 1.0 1.0"/>
      </geometry>
    </collision>
  </link>
  <joint name="BodyRoot" type="fixed">
    <origin xyz="0.0 0.0 0.016" rpy="3.141593 0.0 1.570793"/>
    <parent link="RH5v2_Root_Link"/>
    <child link="BodyRoot_Link"/>
  </joint>
  <link name="BodyRoot_Link">
    <inertial>
      <origin xyz="0.001001 0.011445 0.027995" rpy="0.0 0.0 0.0"/>
      <mass value="0.1819"/>
      <inertia ixx="0.00016560999999982624" ixy="2.4259007707886505e-10" ixz="1.6758933595730266e-08" iyy="0.00021346000013282973" iyz="1.9149442598622602e-07" izz="0.0003416899998673442"/>
    </inertial>
    <visual name="BodyRoot_Link_Visual">
      <origin xyz="0.0 0.0 0.0" rpy="3.141593 0.0 3.141593"/>
      <geometry>
        <mesh filename="../meshes/Body_Root_Link.stl"/>
      </geometry>
      <material name="">
        <color rgba="1.0 1.0 1.0 1.0"/>
      </material>
    </visual>
    <collision name="BodyRoot_Link_Collision">
      <origin xyz="0.0 0.0 0.0" rpy="0.0 0.0 0.0"/>
      <geometry>
        <mesh filename="../meshes/Body_Root_Link_convexhull.stl" scale="1.0 1.0 1.0"/>
      </geometry>
    </collision>
  </link>
  <joint name="BodyYaw" type="revolute">
    <origin xyz="0.0 0.0 0.0" rpy="0.0 0.0 -0.0"/>
    <axis xyz="0.0 0.0 1.0"/>
    <parent link="BodyRoll_Link"/>
    <child link="BodyYaw_Link"/>
    <limit effort="400.0" lower="-3.141" upper="3.141" velocity="3.1415926"/>
  </joint>
  <link name="BodyYaw_Link">
    <inertial>
      <origin xyz="5e-06 0.0 0.062225" rpy="0.0 0.0 0.0"/>
      <mass value="0.25617"/>
      <inertia ixx="0.00046732" ixy="-1.6340031834935254e-14" ixz="-2.1180999999998868e-08" iyy="0.00046727000000000004" iyz="6.921897699980597e-15" izz="0.00077487"/>
    </inertial>
    <visual name="BodyYaw_Visual">
      <origin xyz="0.0 0.0 0.0" rpy="0.0 0.0 -1.570796"/>
      <geometry>
        <mesh filename="../meshes/BodyYaw.stl"/>
      </geometry>
      <material name="">
        <color rgba="0.89804 0.91765 0.92941 1.0"/>
      </material>
    </visual>
    <collision name="BodyYaw_Collision">
      <origin xyz="0.0 0.0 0.0" rpy="0.0 0.0 0.0"/>
      <geometry>
        <mesh filename="../meshes/BodyYaw_convexhull.stl" scale="1.0 1.0 1.0"/>
      </geometry>
    </collision>
  </link>
  <joint name="Connector_Body/Leg_left" type="fixed">
    <origin xyz="0.085744 0.025 0.11058" rpy="-1.570793 -1.309 7e-06"/>
    <parent link="BodyRoot_Link"/>
    <child link="Connector_Body/Leg_left_Link"/>
  </joint>
  <link name="Connector_Body/Leg_left_Link">
    <inertial>
      <origin xyz="0.0 -1.3878e-17 0.0" rpy="0.0 0.0 0.0"/>
      <mass value="1e-05"/>
      <inertia ixx="1e-05" ixy="0.0" ixz="0.0" iyy="1e-05" iyz="0.0" izz="1e-05"/>
    </inertial>
  </link>
  <joint name="Connector_Body/Leg_right" type="fixed">
    <origin xyz="-0.085744 0.025 0.11058" rpy="1.570793 -1.309 -3.141593"/>
    <parent link="BodyRoot_Link"/>
    <child link="Connector_Body/Leg_right_Link"/>
  </joint>
  <link name="Connector_Body/Leg_right_Link">
    <inertial>
      <origin xyz="0.0 1.3878e-17 0.0" rpy="0.0 0.0 0.0"/>
      <mass value="1e-05"/>
      <inertia ixx="1.0000000000000003e-05" ixy="0.0" ixz="0.0" iyy="1.0000000000000004e-05" iyz="0.0" izz="1e-05"/>
    </inertial>
  </link>
  <joint name="Connector_Body/Torso" type="fixed">
    <origin xyz="0.0 0.0 0.0525" rpy="-1.570793 -1.570793 1.570796"/>
    <parent link="BodyYaw_Link"/>
    <child link="Connector_Body/Torso_Link"/>
  </joint>
  <link name="Connector_Body/Torso_Link">
    <inertial>
      <origin xyz="0.0 -4.7606e-18 6.1827e-22" rpy="0.0 0.0 0.0"/>
      <mass value="9.057619513349467"/>
      <inertia ixx="0.13521096197328605" ixy="0.00020463773988279492" ixz="-0.005225465392652974" iyy="0.1581524298837754" iyz="-4.4239158097541136e-05" izz="0.22422604262450974"/>
    </inertial>
    <visual name="base_link_torso_Visual">
      <origin xyz="0.0 0.0 0.0" rpy="3.141593 0.0 0.0"/>
      <geometry>
        <mesh filename="../meshes/base_link_torso.stl"/>
      </geometry>
      <material name="">
        <color rgba="0.698039215686274 0.698039215686274 0.698039215686274 1.0"/>
      </material>
    </visual>
    <visual name="Connector_Torso/Head_Visual">
      <origin xyz="0.3485 0.0 0.0" rpy="-3.141592 0.0 0.0"/>
      <geometry>
        <mesh filename="../meshes/Connector_Torso_Head.stl"/>
      </geometry>
      <material name="">
        <color rgba="0.69804 0.69804 0.69804 1.0"/>
      </material>
    </visual>
    <visual name="Connector_Torso/ArmRight_Visual">
      <origin xyz="0.29809 -0.12609 0.025162" rpy="-1.508093 0.25436 -1.3265"/>
      <geometry>
        <mesh filename="../meshes/Connector_Torso_ArmRight.stl"/>
      </geometry>
      <material name="">
        <color rgba="0.69804 0.69804 0.69804 1.0"/>
      </material>
    </visual>
    <visual name="Connector_Torso/ArmLeft_Visual">
      <origin xyz="0.29809 0.12609 0.025162" rpy="1.508093 0.25436 1.3265"/>
      <geometry>
        <mesh filename="../meshes/Connector_Torso_ArmLeft.stl"/>
      </geometry>
      <material name="">
        <color rgba="0.69804 0.69804 0.69804 1.0"/>
      </material>
    </visual>
    <collision name="Connector_Body/Torso_Link_Collision">
      <origin xyz="0.0 0.0 0.0" rpy="0.0 0.0 0.0"/>
      <geometry>
        <mesh filename="../meshes/Connector_BodyTorso_Link_full-urdf_joined_convexhull.stl" scale="1.0 1.0 1.0"/>
      </geometry>
    </collision>
  </link>
  <joint name="Connector_Torso/Backpack" type="fixed">
    <origin xyz="0.3015 0.135 0.139" rpy="0.014588 -1.570793 3.127004"/>
    <parent link="Connector_Body/Torso_Link"/>
    <child link="Connector_Torso/Backpack_Link"/>
  </joint>
  <link name="Connector_Torso/Backpack_Link">
    <inertial>
      <origin xyz="0.0059236 0.13398 -0.12892" rpy="0.0 0.0 0.0"/>
      <mass value="0.31044"/>
      <inertia ixx="0.0062412" ixy="-3.547e-07" ixz="-0.00033605" iyy="0.0031219" iyz="2.3476e-05" izz="0.003565"/>
    </inertial>
    <visual name="Connector_Torso/Backpack_Visual">
      <origin xyz="0.0 0.0 0.0" rpy="0.0 0.0 0.0"/>
      <geometry>
        <mesh filename="../meshes/Connector_Torso_Backpack.stl"/>
      </geometry>
      <material name="">
        <color rgba="0.20784 0.30196 0.45098 1.0"/>
      </material>
    </visual>
    <collision name="Connector_Torso/Backpack_Collision">
      <origin xyz="0.0 0.0 0.0" rpy="0.0 0.0 0.0"/>
      <geometry>
        <mesh filename="../meshes/Connector_Torso_Backpack_convexhull.stl" scale="1.0 1.0 1.0"/>
      </geometry>
    </collision>
  </link>
  <joint name="GLBase" type="fixed">
    <origin xyz="0.0 0.0 0.0" rpy="0.0 0.0 0.0"/>
    <parent link="ALWristFT_Link"/>
    <child link="GLBase_Link"/>
  </joint>
  <link name="GLBase_Link">
    <inertial>
      <origin xyz="0.003469 0.020574 0.047268" rpy="0.0 0.0 0.0"/>
      <mass value="1.6158618735699422"/>
      <inertia ixx="0.0015309000000000002" ixy="5.5487e-05" ixz="4.3401e-06" iyy="0.0007222700000000001" iyz="-2.1644e-05" izz="0.0011271"/>
    </inertial>
    <visual name="GLBase_Visual">
      <origin xyz="0.0 0.0 0.0" rpy="3.141593 0.0 0.0"/>
      <geometry>
        <mesh filename="../meshes/GripperLeft_BaseFrame.stl" scale="1.0 1.0 1.0"/>
      </geometry>
      <material name="">
        <color rgba="0.94118 0.67451 0.11765 1.0"/>
      </material>
    </visual>
    <collision name="GLBase_Collision">
      <origin xyz="0.0 0.0 0.0" rpy="0.0 0.0 0.0"/>
      <geometry>
        <mesh filename="../meshes/GripperLeft_BaseFrame_convexhull.stl" scale="1.0 1.0 1.0"/>
      </geometry>
    </collision>
  </link>
  <joint name="GLDistanceSensor1" type="fixed">
    <origin xyz="-0.000863 0.037716 0.083475" rpy="3.141593 -1.570793 3.141593"/>
    <parent link="GLBase_Link"/>
    <child link="GLDistanceSensor1_Link"/>
  </joint>
  <link name="GLDistanceSensor1_Link">
    <inertial>
      <origin xyz="0.0 0.0 0.0" rpy="0.0 0.0 0.0"/>
      <mass value="1e-05"/>
      <inertia ixx="1e-05" ixy="0.0" ixz="0.0" iyy="1e-05" iyz="0.0" izz="1e-05"/>
    </inertial>
  </link>
  <joint name="GLDistanceSensor2" type="fixed">
    <origin xyz="-0.000709 -0.002977 0.083475" rpy="3.141593 -1.570793 3.141593"/>
    <parent link="GLBase_Link"/>
    <child link="GLDistanceSensor2_Link"/>
  </joint>
  <link name="GLDistanceSensor2_Link">
    <inertial>
      <origin xyz="0.0 -0.0 0.0" rpy="0.0 0.0 0.0"/>
      <mass value="1e-05"/>
      <inertia ixx="1e-05" ixy="0.0" ixz="0.0" iyy="1e-05" iyz="0.0" izz="1e-05"/>
    </inertial>
  </link>
  <joint name="GLF1Base" type="fixed">
    <origin xyz="-0.013458 -0.038971 0.065211" rpy="1.7921 0.1664 -1.533593"/>
    <parent link="GLBase_Link"/>
    <child link="GLF1Base_Link"/>
  </joint>
  <link name="GLF1Base_Link">
    <inertial>
      <origin xyz="-0.013075 -0.015412 0.022007" rpy="0.0 0.0 0.0"/>
      <mass value="0.19184"/>
      <inertia ixx="3.9359e-05" ixy="-1.1994e-07" ixz="-1.876e-07" iyy="3.2122e-05" iyz="-2.0609e-07" izz="4.6536e-05"/>
    </inertial>
    <visual name="GLF1Base_Visual">
      <origin xyz="0.0 0.0 0.0" rpy="0.0 0.0 0.0"/>
      <geometry>
        <mesh filename="../meshes/Finger_Base_Frame.stl"/>
      </geometry>
      <material name="">
        <color rgba="0.79216 0.81961 0.93333 1.0"/>
      </material>
    </visual>
    <collision name="GLF1Base_Collision">
      <origin xyz="0.0 0.0 0.0" rpy="0.0 0.0 0.0"/>
      <geometry>
        <mesh filename="../meshes/Finger_Base_Frame_convexhull.stl" scale="1.0 1.0 1.0"/>
      </geometry>
    </collision>
  </link>
  <joint name="GLF1DistanceSensorDistal1" type="fixed">
    <origin xyz="0.000299999833291532 -0.0247775082611843 -0.0163492159542979" rpy="0.0 1.13794911843156 1.5707963267949"/>
    <parent link="GLF1TopSegment_Link"/>
    <child link="GLF1DistanceSensorDistal1_Link"/>
  </joint>
  <link name="GLF1DistanceSensorDistal1_Link">
    <inertial>
      <origin xyz="0.0 0.0 0.0" rpy="0.0 0.0 0.0"/>
      <mass value="1e-05"/>
      <inertia ixx="1e-05" ixy="0.0" ixz="0.0" iyy="1e-05" iyz="0.0" izz="1e-05"/>
    </inertial>
  </link>
  <joint name="GLF1DistanceSensorDistal2" type="fixed">
    <origin xyz="0.000199995310425429 0.0507125844075086 -0.0195804953991652" rpy="3.14159265358977 -0.751361283639969 1.57079632679489"/>
    <parent link="GLF1TopSegment_Link"/>
    <child link="GLF1DistanceSensorDistal2_Link"/>
  </joint>
  <link name="GLF1DistanceSensorDistal2_Link">
    <inertial>
      <origin xyz="0.0 0.0 0.0" rpy="0.0 0.0 0.0"/>
      <mass value="1e-05"/>
      <inertia ixx="1e-05" ixy="0.0" ixz="0.0" iyy="1e-05" iyz="0.0" izz="1e-05"/>
    </inertial>
  </link>
  <joint name="GLF1Gear" type="revolute">
    <origin xyz="0.0 0.0 0.053" rpy="1.2885 0.0 0.0"/>
    <axis xyz="1.0 0.0 0.0"/>
    <parent link="GLF1ProximalSegment_Link"/>
    <child link="GLF1Gear_Link"/>
    <limit effort="400.0" lower="-3.1415926" upper="3.1415926" velocity="3.1415926"/>
    <mimic joint="GLF1ProximalSegment" multiplier="-1.0" offset="0.0"/>
  </joint>
  <link name="GLF1Gear_Link">
    <inertial>
      <origin xyz="0.00042134 0.00032509 0.0086803" rpy="0.0 0.0 0.0"/>
      <mass value="0.024785"/>
      <inertia ixx="1.1031768852531896e-05" ixy="-3.314199999999995e-09" ixz="-1.3220000000000009e-08" iyy="1.04518688525319e-05" iyz="-1.0513000000000047e-07" izz="1.0024648852531899e-05"/>
    </inertial>
    <visual name="GLF1Gear_Visual">
      <origin xyz="0.0 0.0 0.0" rpy="0.0 0.0 0.0"/>
      <geometry>
        <mesh filename="../meshes/F_Gear_Frame.stl"/>
      </geometry>
      <material name="">
        <color rgba="0.94118 0.67451 0.11765 1.0"/>
      </material>
    </visual>
    <collision name="GLF1Gear_Collision">
      <origin xyz="0.0 0.0 0.0" rpy="0.0 0.0 0.0"/>
      <geometry>
        <mesh filename="../meshes/F_Gear_Frame_convexhull.stl" scale="1.0 1.0 1.0"/>
      </geometry>
    </collision>
  </link>
  <joint name="GLF1ProximalBar" type="revolute">
    <origin xyz="-0.01305 0.020512 0.035979" rpy="-1.1138 0.0 0.0"/>
    <axis xyz="-1.0 0.0 0.0"/>
    <parent link="GLF1Base_Link"/>
    <child link="GLF1ProximalBar_Link"/>
    <limit effort="400.0" lower="-3.1415926" upper="3.1415926" velocity="3.1415926"/>
    <mimic joint="GLF1ProximalSegment" multiplier="-1.0" offset="0.0"/>
  </joint>
  <link name="GLF1ProximalBar_Link">
    <inertial>
      <origin xyz="0.0021195 9.8516e-05 0.017626" rpy="0.0 0.0 0.0"/>
      <mass value="0.013406"/>
      <inertia ixx="1.3148561531334552e-05" ixy="-2.4433999999999384e-08" ixz="2.606700000000039e-07" iyy="1.3680961531334562e-05" iyz="7.3035999999996e-08" izz="1.0023111531334548e-05"/>
    </inertial>
    <visual name="GLF1ProximalBar_Visual">
      <origin xyz="0.0 0.0 0.0" rpy="0.0 0.0 0.0"/>
      <geometry>
        <mesh filename="../meshes/F_ProximalBar_Frame.stl"/>
      </geometry>
      <material name="">
        <color rgba="0.94118 0.67451 0.11765 1.0"/>
      </material>
    </visual>
    <collision name="GLF1ProximalBar_Collision">
      <origin xyz="0.0 0.0 0.0" rpy="0.0 0.0 0.0"/>
      <geometry>
        <mesh filename="../meshes/F_ProximalBar_Frame_convexhull.stl" scale="1.0 1.0 1.0"/>
      </geometry>
    </collision>
  </link>
  <joint name="GLF1ProximalSegment" type="revolute">
    <origin xyz="-0.01305 0.01575 0.0145" rpy="-1.1257 0.0 0.0"/>
    <axis xyz="1.0 0.0 0.0"/>
    <parent link="GLF1Base_Link"/>
    <child link="GLF1ProximalSegment_Link"/>
    <limit effort="400.0" lower="-0.62" upper="0.75" velocity="3.1415926"/>
  </joint>
  <link name="GLF1ProximalSegment_Link">
    <inertial>
      <origin xyz="-0.0020803 0.000387 0.0216" rpy="0.0 0.0 0.0"/>
      <mass value="0.054293"/>
      <inertia ixx="2.0885480277942027e-05" ixy="-1.4302000000000018e-08" ixz="-2.6832000000000287e-07" iyy="2.3749480277942032e-05" iyz="6.182299999999969e-07" izz="1.0034380277942036e-05"/>
    </inertial>
    <visual name="GLF1ProximalSegment_Visual">
      <origin xyz="0.0 0.0 0.0" rpy="0.0 0.0 0.0"/>
      <geometry>
        <mesh filename="../meshes/F_ProximalSegment_Frame.stl"/>
      </geometry>
      <material name="">
        <color rgba="0.94118 0.67451 0.11765 1.0"/>
      </material>
    </visual>
    <collision name="GLF1ProximalSegment_Collision">
      <origin xyz="0.0 0.0 0.0" rpy="0.0 0.0 0.0"/>
      <geometry>
        <mesh filename="../meshes/F_ProximalSegment_Frame_convexhull.stl" scale="1.0 1.0 1.0"/>
      </geometry>
    </collision>
  </link>
  <joint name="GLF1TopSegment" type="revolute">
    <origin xyz="0.0 0.0 0.0" rpy="0.0 0.0 0.0"/>
    <axis xyz="1.0 0.0 0.0"/>
    <parent link="GLF1Gear_Link"/>
    <child link="GLF1TopSegment_Link"/>
    <limit effort="400.0" lower="0.0" upper="2.1" velocity="3.1415926"/>
  </joint>
  <link name="GLF1TopSegment_Link">
    <inertial>
      <origin xyz="0.00093543 0.026024 -0.013282" rpy="0.0 0.0 0.0"/>
      <mass value="0.049549"/>
      <inertia ixx="1.1651277429850969e-05" ixy="4.429600000000007e-07" ixz="-6.034000000000013e-08" iyy="1.0300577429850967e-05" iyz="7.458100000000004e-07" izz="1.319687742985097e-05"/>
    </inertial>
    <visual name="GLF1TopSegment_Visual">
      <origin xyz="0.0 0.0 0.0" rpy="0.0 0.0 0.0"/>
      <geometry>
        <mesh filename="../meshes/F_TopSegment_Frame.stl"/>
      </geometry>
      <material name="">
        <color rgba="0.94118 0.67451 0.11765 1.0"/>
      </material>
    </visual>
    <collision name="GLF1TopSegment_Collision">
      <origin xyz="0.0 0.0 0.0" rpy="0.0 0.0 0.0"/>
      <geometry>
        <mesh filename="../meshes/F_TopSegment_Frame_convexhull.stl" scale="1.0 1.0 1.0"/>
      </geometry>
    </collision>
  </link>
  <joint name="GLF1TouchSensorDistal" type="fixed">
    <origin xyz="0.000200002939819318 0.0407117537406957 -0.0292563156876496" rpy="-3.14159265358978 1.17417004512815 -1.57079632679488"/>
    <parent link="GLF1TopSegment_Link"/>
    <child link="GLF1TouchSensorDistal_Link"/>
  </joint>
  <link name="GLF1TouchSensorDistal_Link">
    <inertial>
      <origin xyz="0.0 0.0 0.0" rpy="0.0 0.0 0.0"/>
      <mass value="1e-05"/>
      <inertia ixx="1e-05" ixy="0.0" ixz="0.0" iyy="1e-05" iyz="0.0" izz="1e-05"/>
    </inertial>
  </link>
  <joint name="GLF1TouchSensorIntermedial" type="fixed">
    <origin xyz="0.000200000530702645 0.0123371368999994 -0.01766647971245" rpy="-3.14159265358978 1.18769356276747 -1.57079632679488"/>
    <parent link="GLF1TopSegment_Link"/>
    <child link="GLF1TouchSensorIntermedial_Link"/>
  </joint>
  <link name="GLF1TouchSensorIntermedial_Link">
    <inertial>
      <origin xyz="0.0 0.0 0.0" rpy="0.0 0.0 0.0"/>
      <mass value="1e-05"/>
      <inertia ixx="1e-05" ixy="0.0" ixz="0.0" iyy="1e-05" iyz="0.0" izz="1e-05"/>
    </inertial>
  </link>
  <joint name="GLF1TouchSensor_FingerProximal" type="fixed">
    <origin xyz="0.0003 0.0088011 0.024649" rpy="0.0 -0.15059 1.5708"/>
    <parent link="GLF1ProximalSegment_Link"/>
    <child link="GLF1TouchSensor_FingerProximal_Link"/>
  </joint>
  <link name="GLF1TouchSensor_FingerProximal_Link">
    <inertial>
      <origin xyz="0.0 0.0 0.0" rpy="0.0 0.0 0.0"/>
      <mass value="1e-05"/>
      <inertia ixx="1e-05" ixy="0.0" ixz="0.0" iyy="1e-05" iyz="0.0" izz="1e-05"/>
    </inertial>
  </link>
  <joint name="GLF2Base" type="fixed">
    <origin xyz="-0.014454 0.012122 0.06971" rpy="1.7907 -0.12478 -1.598593"/>
    <parent link="GLBase_Link"/>
    <child link="GLF2Base_Link"/>
  </joint>
  <link name="GLF2Base_Link">
    <inertial>
      <origin xyz="-0.013075 -0.015412 0.022007" rpy="0.0 0.0 0.0"/>
      <mass value="0.19184"/>
      <inertia ixx="3.9359e-05" ixy="-1.1994e-07" ixz="-1.876e-07" iyy="3.2122e-05" iyz="-2.0609e-07" izz="4.6536e-05"/>
    </inertial>
    <visual name="GLF2Base_Visual">
      <origin xyz="0.0 0.0 0.0" rpy="0.0 0.0 0.0"/>
      <geometry>
        <mesh filename="../meshes/Finger_Base_Frame.stl"/>
      </geometry>
      <material name="">
        <color rgba="0.79216 0.81961 0.93333 1.0"/>
      </material>
    </visual>
    <collision name="GLF2Base_Collision">
      <origin xyz="0.0 0.0 0.0" rpy="0.0 0.0 0.0"/>
      <geometry>
        <mesh filename="../meshes/Finger_Base_Frame_convexhull.stl" scale="1.0 1.0 1.0"/>
      </geometry>
    </collision>
  </link>
  <joint name="GLF2DistanceSensorDistal1" type="fixed">
    <origin xyz="0.000299999833291532 -0.0247775082611843 -0.0163492159542979" rpy="0.0 1.13794911843156 1.5707963267949"/>
    <parent link="GLF2TopSegment_Link"/>
    <child link="GLF2DistanceSensorDistal1_Link"/>
  </joint>
  <link name="GLF2DistanceSensorDistal1_Link">
    <inertial>
      <origin xyz="0.0 0.0 0.0" rpy="0.0 0.0 0.0"/>
      <mass value="1e-05"/>
      <inertia ixx="1e-05" ixy="0.0" ixz="0.0" iyy="1e-05" iyz="0.0" izz="1e-05"/>
    </inertial>
  </link>
  <joint name="GLF2DistanceSensorDistal2" type="fixed">
    <origin xyz="0.000199995310425429 0.0507125844075086 -0.0195804953991652" rpy="3.14159265358977 -0.751361283639969 1.57079632679489"/>
    <parent link="GLF2TopSegment_Link"/>
    <child link="GLF2DistanceSensorDistal2_Link"/>
  </joint>
  <link name="GLF2DistanceSensorDistal2_Link">
    <inertial>
      <origin xyz="0.0 0.0 0.0" rpy="0.0 0.0 0.0"/>
      <mass value="1e-05"/>
      <inertia ixx="1e-05" ixy="0.0" ixz="0.0" iyy="1e-05" iyz="0.0" izz="1e-05"/>
    </inertial>
  </link>
  <joint name="GLF2Gear" type="revolute">
    <origin xyz="0.0 0.0 0.053" rpy="1.2885 0.0 0.0"/>
    <axis xyz="1.0 0.0 0.0"/>
    <parent link="GLF2ProximalSegment_Link"/>
    <child link="GLF2Gear_Link"/>
    <limit effort="400.0" lower="-3.1415926" upper="3.1415926" velocity="3.1415926"/>
    <mimic joint="GLF2ProximalSegment" multiplier="-1.0" offset="0.0"/>
  </joint>
  <link name="GLF2Gear_Link">
    <inertial>
      <origin xyz="0.00042134 0.00032509 0.0086803" rpy="0.0 0.0 0.0"/>
      <mass value="0.024785"/>
      <inertia ixx="1.1031768852531896e-05" ixy="-3.314199999999995e-09" ixz="-1.3220000000000009e-08" iyy="1.04518688525319e-05" iyz="-1.0513000000000047e-07" izz="1.0024648852531899e-05"/>
    </inertial>
    <visual name="GLF2Gear_Visual">
      <origin xyz="0.0 0.0 0.0" rpy="0.0 0.0 0.0"/>
      <geometry>
        <mesh filename="../meshes/F_Gear_Frame.stl"/>
      </geometry>
      <material name="">
        <color rgba="0.94118 0.67451 0.11765 1.0"/>
      </material>
    </visual>
    <collision name="GLF2Gear_Collision">
      <origin xyz="0.0 0.0 0.0" rpy="0.0 0.0 0.0"/>
      <geometry>
        <mesh filename="../meshes/F_Gear_Frame_convexhull.stl" scale="1.0 1.0 1.0"/>
      </geometry>
    </collision>
  </link>
  <joint name="GLF2ProximalBar" type="revolute">
    <origin xyz="-0.01305 0.020512 0.035979" rpy="-1.1138 0.0 0.0"/>
    <axis xyz="-1.0 0.0 0.0"/>
    <parent link="GLF2Base_Link"/>
    <child link="GLF2ProximalBar_Link"/>
    <limit effort="400.0" lower="-3.1415926" upper="3.1415926" velocity="3.1415926"/>
    <mimic joint="GLF2ProximalSegment" multiplier="-1.0" offset="0.0"/>
  </joint>
  <link name="GLF2ProximalBar_Link">
    <inertial>
      <origin xyz="0.0021195 9.8516e-05 0.017626" rpy="0.0 0.0 0.0"/>
      <mass value="0.013406"/>
      <inertia ixx="1.3148561531334552e-05" ixy="-2.4433999999999384e-08" ixz="2.606700000000039e-07" iyy="1.3680961531334562e-05" iyz="7.3035999999996e-08" izz="1.0023111531334548e-05"/>
    </inertial>
    <visual name="GLF2ProximalBar_Visual">
      <origin xyz="0.0 0.0 0.0" rpy="0.0 0.0 0.0"/>
      <geometry>
        <mesh filename="../meshes/F_ProximalBar_Frame.stl"/>
      </geometry>
      <material name="">
        <color rgba="0.94118 0.67451 0.11765 1.0"/>
      </material>
    </visual>
    <collision name="GLF2ProximalBar_Collision">
      <origin xyz="0.0 0.0 0.0" rpy="0.0 0.0 0.0"/>
      <geometry>
        <mesh filename="../meshes/F_ProximalBar_Frame_convexhull.stl" scale="1.0 1.0 1.0"/>
      </geometry>
    </collision>
  </link>
  <joint name="GLF2ProximalSegment" type="revolute">
    <origin xyz="-0.01305 0.01575 0.0145" rpy="-1.1257 0.0 0.0"/>
    <axis xyz="1.0 0.0 0.0"/>
    <parent link="GLF2Base_Link"/>
    <child link="GLF2ProximalSegment_Link"/>
    <limit effort="400.0" lower="-0.62" upper="0.75" velocity="3.1415926"/>
  </joint>
  <link name="GLF2ProximalSegment_Link">
    <inertial>
      <origin xyz="-0.0020803 0.000387 0.0216" rpy="0.0 0.0 0.0"/>
      <mass value="0.054293"/>
      <inertia ixx="2.0885480277942027e-05" ixy="-1.4302000000000018e-08" ixz="-2.6832000000000287e-07" iyy="2.3749480277942032e-05" iyz="6.182299999999969e-07" izz="1.0034380277942036e-05"/>
    </inertial>
    <visual name="GLF2ProximalSegment_Visual">
      <origin xyz="0.0 0.0 0.0" rpy="0.0 0.0 0.0"/>
      <geometry>
        <mesh filename="../meshes/F_ProximalSegment_Frame.stl"/>
      </geometry>
      <material name="">
        <color rgba="0.94118 0.67451 0.11765 1.0"/>
      </material>
    </visual>
    <collision name="GLF2ProximalSegment_Collision">
      <origin xyz="0.0 0.0 0.0" rpy="0.0 0.0 0.0"/>
      <geometry>
        <mesh filename="../meshes/F_ProximalSegment_Frame_convexhull.stl" scale="1.0 1.0 1.0"/>
      </geometry>
    </collision>
  </link>
  <joint name="GLF2TopSegment" type="revolute">
    <origin xyz="0.0 0.0 0.0" rpy="0.0 0.0 0.0"/>
    <axis xyz="1.0 0.0 0.0"/>
    <parent link="GLF2Gear_Link"/>
    <child link="GLF2TopSegment_Link"/>
    <limit effort="400.0" lower="0.0" upper="2.1" velocity="3.1415926"/>
  </joint>
  <link name="GLF2TopSegment_Link">
    <inertial>
      <origin xyz="0.00093543 0.026024 -0.013282" rpy="0.0 0.0 0.0"/>
      <mass value="0.049549"/>
      <inertia ixx="1.1651277429850969e-05" ixy="4.429600000000007e-07" ixz="-6.034000000000013e-08" iyy="1.0300577429850967e-05" iyz="7.458100000000004e-07" izz="1.319687742985097e-05"/>
    </inertial>
    <visual name="GLF2TopSegment_Visual">
      <origin xyz="0.0 0.0 0.0" rpy="0.0 0.0 0.0"/>
      <geometry>
        <mesh filename="../meshes/F_TopSegment_Frame.stl"/>
      </geometry>
      <material name="">
        <color rgba="0.94118 0.67451 0.11765 1.0"/>
      </material>
    </visual>
    <collision name="GLF2TopSegment_Collision">
      <origin xyz="0.0 0.0 0.0" rpy="0.0 0.0 0.0"/>
      <geometry>
        <mesh filename="../meshes/F_TopSegment_Frame_convexhull.stl" scale="1.0 1.0 1.0"/>
      </geometry>
    </collision>
  </link>
  <joint name="GLF2TouchSensorDistal" type="fixed">
    <origin xyz="0.000200002939819318 0.0407117537406957 -0.0292563156876496" rpy="-3.14159265358978 1.17417004512815 -1.57079632679488"/>
    <parent link="GLF2TopSegment_Link"/>
    <child link="GLF2TouchSensorDistal_Link"/>
  </joint>
  <link name="GLF2TouchSensorDistal_Link">
    <inertial>
      <origin xyz="0.0 0.0 0.0" rpy="0.0 0.0 0.0"/>
      <mass value="1e-05"/>
      <inertia ixx="1e-05" ixy="0.0" ixz="0.0" iyy="1e-05" iyz="0.0" izz="1e-05"/>
    </inertial>
  </link>
  <joint name="GLF2TouchSensorIntermedial" type="fixed">
    <origin xyz="0.000200000530702645 0.0123371368999994 -0.01766647971245" rpy="-3.14159265358978 1.18769356276747 -1.57079632679488"/>
    <parent link="GLF2TopSegment_Link"/>
    <child link="GLF2TouchSensorIntermedial_Link"/>
  </joint>
  <link name="GLF2TouchSensorIntermedial_Link">
    <inertial>
      <origin xyz="0.0 0.0 0.0" rpy="0.0 0.0 0.0"/>
      <mass value="1e-05"/>
      <inertia ixx="1e-05" ixy="0.0" ixz="0.0" iyy="1e-05" iyz="0.0" izz="1e-05"/>
    </inertial>
  </link>
  <joint name="GLF2TouchSensor_FingerProximal" type="fixed">
    <origin xyz="0.0003 0.0088011 0.024649" rpy="0.0 -0.15059 1.5708"/>
    <parent link="GLF2ProximalSegment_Link"/>
    <child link="GLF2TouchSensor_FingerProximal_Link"/>
  </joint>
  <link name="GLF2TouchSensor_FingerProximal_Link">
    <inertial>
      <origin xyz="0.0 0.0 0.0" rpy="0.0 0.0 0.0"/>
      <mass value="1e-05"/>
      <inertia ixx="1e-05" ixy="0.0" ixz="0.0" iyy="1e-05" iyz="0.0" izz="1e-05"/>
    </inertial>
  </link>
  <joint name="GLF3Base" type="fixed">
    <origin xyz="-0.013488 0.046837 0.065354" rpy="1.7907 -0.124785 -1.598609"/>
    <parent link="GLBase_Link"/>
    <child link="GLF3Base_Link"/>
  </joint>
  <link name="GLF3Base_Link">
    <inertial>
      <origin xyz="-0.013075 -0.015412 0.022007" rpy="0.0 0.0 0.0"/>
      <mass value="0.19184"/>
      <inertia ixx="3.9359e-05" ixy="-1.1994e-07" ixz="-1.876e-07" iyy="3.2122e-05" iyz="-2.0609e-07" izz="4.6536e-05"/>
    </inertial>
    <visual name="GLF3Base_Visual">
      <origin xyz="0.0 0.0 0.0" rpy="0.0 0.0 0.0"/>
      <geometry>
        <mesh filename="../meshes/Finger_Base_Frame.stl"/>
      </geometry>
      <material name="">
        <color rgba="0.79216 0.81961 0.93333 1.0"/>
      </material>
    </visual>
    <collision name="GLF3Base_Collision">
      <origin xyz="0.0 0.0 0.0" rpy="0.0 0.0 0.0"/>
      <geometry>
        <mesh filename="../meshes/Finger_Base_Frame_convexhull.stl" scale="1.0 1.0 1.0"/>
      </geometry>
    </collision>
  </link>
  <joint name="GLF3DistanceSensorDistal1" type="fixed">
    <origin xyz="0.000299999833291532 -0.0247775082611843 -0.0163492159542979" rpy="0.0 1.13794911843156 1.5707963267949"/>
    <parent link="GLF3TopSegment_Link"/>
    <child link="GLF3DistanceSensorDistal1_Link"/>
  </joint>
  <link name="GLF3DistanceSensorDistal1_Link">
    <inertial>
      <origin xyz="0.0 0.0 0.0" rpy="0.0 0.0 0.0"/>
      <mass value="1e-05"/>
      <inertia ixx="1e-05" ixy="0.0" ixz="0.0" iyy="1e-05" iyz="0.0" izz="1e-05"/>
    </inertial>
  </link>
  <joint name="GLF3DistanceSensorDistal2" type="fixed">
    <origin xyz="0.000199995310425429 0.0507125844075086 -0.0195804953991652" rpy="3.14159265358977 -0.751361283639969 1.57079632679489"/>
    <parent link="GLF3TopSegment_Link"/>
    <child link="GLF3DistanceSensorDistal2_Link"/>
  </joint>
  <link name="GLF3DistanceSensorDistal2_Link">
    <inertial>
      <origin xyz="0.0 0.0 0.0" rpy="0.0 0.0 0.0"/>
      <mass value="1e-05"/>
      <inertia ixx="1e-05" ixy="0.0" ixz="0.0" iyy="1e-05" iyz="0.0" izz="1e-05"/>
    </inertial>
  </link>
  <joint name="GLF3Gear" type="revolute">
    <origin xyz="0.0 0.0 0.053" rpy="1.2885 0.0 0.0"/>
    <axis xyz="1.0 0.0 0.0"/>
    <parent link="GLF3ProximalSegment_Link"/>
    <child link="GLF3Gear_Link"/>
    <limit effort="400.0" lower="-3.1415926" upper="3.1415926" velocity="3.1415926"/>
    <mimic joint="GLF3ProximalSegment" multiplier="-1.0" offset="0.0"/>
  </joint>
  <link name="GLF3Gear_Link">
    <inertial>
      <origin xyz="0.00042134 0.00032509 0.0086803" rpy="0.0 0.0 0.0"/>
      <mass value="0.024785"/>
      <inertia ixx="1.1031768852531896e-05" ixy="-3.314199999999995e-09" ixz="-1.3220000000000009e-08" iyy="1.04518688525319e-05" iyz="-1.0513000000000047e-07" izz="1.0024648852531899e-05"/>
    </inertial>
    <visual name="GLF3Gear_Visual">
      <origin xyz="0.0 0.0 0.0" rpy="0.0 0.0 0.0"/>
      <geometry>
        <mesh filename="../meshes/F_Gear_Frame.stl"/>
      </geometry>
      <material name="">
        <color rgba="0.94118 0.67451 0.11765 1.0"/>
      </material>
    </visual>
    <collision name="GLF3Gear_Collision">
      <origin xyz="0.0 0.0 0.0" rpy="0.0 0.0 0.0"/>
      <geometry>
        <mesh filename="../meshes/F_Gear_Frame_convexhull.stl" scale="1.0 1.0 1.0"/>
      </geometry>
    </collision>
  </link>
  <joint name="GLF3ProximalBar" type="revolute">
    <origin xyz="-0.01305 0.020512 0.035979" rpy="-1.1138 0.0 0.0"/>
    <axis xyz="-1.0 0.0 0.0"/>
    <parent link="GLF3Base_Link"/>
    <child link="GLF3ProximalBar_Link"/>
    <limit effort="400.0" lower="-3.1415926" upper="3.1415926" velocity="3.1415926"/>
    <mimic joint="GLF3ProximalSegment" multiplier="-1.0" offset="0.0"/>
  </joint>
  <link name="GLF3ProximalBar_Link">
    <inertial>
      <origin xyz="0.0021195 9.8516e-05 0.017626" rpy="0.0 0.0 0.0"/>
      <mass value="0.013406"/>
      <inertia ixx="1.3148561531334552e-05" ixy="-2.4433999999999384e-08" ixz="2.606700000000039e-07" iyy="1.3680961531334562e-05" iyz="7.3035999999996e-08" izz="1.0023111531334548e-05"/>
    </inertial>
    <visual name="GLF3ProximalBar_Visual">
      <origin xyz="0.0 0.0 0.0" rpy="0.0 0.0 0.0"/>
      <geometry>
        <mesh filename="../meshes/F_ProximalBar_Frame.stl"/>
      </geometry>
      <material name="">
        <color rgba="0.94118 0.67451 0.11765 1.0"/>
      </material>
    </visual>
    <collision name="GLF3ProximalBar_Collision">
      <origin xyz="0.0 0.0 0.0" rpy="0.0 0.0 0.0"/>
      <geometry>
        <mesh filename="../meshes/F_ProximalBar_Frame_convexhull.stl" scale="1.0 1.0 1.0"/>
      </geometry>
    </collision>
  </link>
  <joint name="GLF3ProximalSegment" type="revolute">
    <origin xyz="-0.01305 0.01575 0.0145" rpy="-1.1257 0.0 0.0"/>
    <axis xyz="1.0 0.0 0.0"/>
    <parent link="GLF3Base_Link"/>
    <child link="GLF3ProximalSegment_Link"/>
    <limit effort="400.0" lower="-0.62" upper="0.75" velocity="3.1415926"/>
  </joint>
  <link name="GLF3ProximalSegment_Link">
    <inertial>
      <origin xyz="-0.0020803 0.000387 0.0216" rpy="0.0 0.0 0.0"/>
      <mass value="0.054293"/>
      <inertia ixx="2.0885480277942027e-05" ixy="-1.4302000000000018e-08" ixz="-2.6832000000000287e-07" iyy="2.3749480277942032e-05" iyz="6.182299999999969e-07" izz="1.0034380277942036e-05"/>
    </inertial>
    <visual name="GLF3ProximalSegment_Visual">
      <origin xyz="0.0 0.0 0.0" rpy="0.0 0.0 0.0"/>
      <geometry>
        <mesh filename="../meshes/F_ProximalSegment_Frame.stl"/>
      </geometry>
      <material name="">
        <color rgba="0.94118 0.67451 0.11765 1.0"/>
      </material>
    </visual>
    <collision name="GLF3ProximalSegment_Collision">
      <origin xyz="0.0 0.0 0.0" rpy="0.0 0.0 0.0"/>
      <geometry>
        <mesh filename="../meshes/F_ProximalSegment_Frame_convexhull.stl" scale="1.0 1.0 1.0"/>
      </geometry>
    </collision>
  </link>
  <joint name="GLF3TopSegment" type="revolute">
    <origin xyz="0.0 0.0 0.0" rpy="0.0 0.0 0.0"/>
    <axis xyz="1.0 0.0 0.0"/>
    <parent link="GLF3Gear_Link"/>
    <child link="GLF3TopSegment_Link"/>
    <limit effort="400.0" lower="0.0" upper="2.1" velocity="3.1415926"/>
  </joint>
  <link name="GLF3TopSegment_Link">
    <inertial>
      <origin xyz="0.00093543 0.026024 -0.013282" rpy="0.0 0.0 0.0"/>
      <mass value="0.049549"/>
      <inertia ixx="1.1651277429850969e-05" ixy="4.429600000000007e-07" ixz="-6.034000000000013e-08" iyy="1.0300577429850967e-05" iyz="7.458100000000004e-07" izz="1.319687742985097e-05"/>
    </inertial>
    <visual name="GLF3TopSegment_Visual">
      <origin xyz="0.0 0.0 0.0" rpy="0.0 0.0 0.0"/>
      <geometry>
        <mesh filename="../meshes/F_TopSegment_Frame.stl"/>
      </geometry>
      <material name="">
        <color rgba="0.94118 0.67451 0.11765 1.0"/>
      </material>
    </visual>
    <collision name="GLF3TopSegment_Collision">
      <origin xyz="0.0 0.0 0.0" rpy="0.0 0.0 0.0"/>
      <geometry>
        <mesh filename="../meshes/F_TopSegment_Frame_convexhull.stl" scale="1.0 1.0 1.0"/>
      </geometry>
    </collision>
  </link>
  <joint name="GLF3TouchSensorDistal" type="fixed">
    <origin xyz="0.000200002939819318 0.0407117537406957 -0.0292563156876496" rpy="-3.14159265358978 1.17417004512815 -1.57079632679488"/>
    <parent link="GLF3TopSegment_Link"/>
    <child link="GLF3TouchSensorDistal_Link"/>
  </joint>
  <link name="GLF3TouchSensorDistal_Link">
    <inertial>
      <origin xyz="0.0 0.0 0.0" rpy="0.0 0.0 0.0"/>
      <mass value="1e-05"/>
      <inertia ixx="1e-05" ixy="0.0" ixz="0.0" iyy="1e-05" iyz="0.0" izz="1e-05"/>
    </inertial>
  </link>
  <joint name="GLF3TouchSensorIntermedial" type="fixed">
    <origin xyz="0.000200000530702645 0.0123371368999994 -0.01766647971245" rpy="-3.14159265358978 1.18769356276747 -1.57079632679488"/>
    <parent link="GLF3TopSegment_Link"/>
    <child link="GLF3TouchSensorIntermedial_Link"/>
  </joint>
  <link name="GLF3TouchSensorIntermedial_Link">
    <inertial>
      <origin xyz="0.0 0.0 0.0" rpy="0.0 0.0 0.0"/>
      <mass value="1e-05"/>
      <inertia ixx="1e-05" ixy="0.0" ixz="0.0" iyy="1e-05" iyz="0.0" izz="1e-05"/>
    </inertial>
  </link>
  <joint name="GLF3TouchSensor_FingerProximal" type="fixed">
    <origin xyz="0.0003 0.0088011 0.024649" rpy="0.0 -0.15059 1.5708"/>
    <parent link="GLF3ProximalSegment_Link"/>
    <child link="GLF3TouchSensor_FingerProximal_Link"/>
  </joint>
  <link name="GLF3TouchSensor_FingerProximal_Link">
    <inertial>
      <origin xyz="0.0 0.0 0.0" rpy="0.0 0.0 0.0"/>
      <mass value="1e-05"/>
      <inertia ixx="1e-05" ixy="0.0" ixz="0.0" iyy="1e-05" iyz="0.0" izz="1e-05"/>
    </inertial>
  </link>
  <joint name="GLF4Base" type="fixed">
    <origin xyz="-0.011996 -0.013 0.028112" rpy="1.789 0.0 -1.570801"/>
    <parent link="GLThumb_Link"/>
    <child link="GLF4Base_Link"/>
  </joint>
  <link name="GLF4Base_Link">
    <inertial>
      <origin xyz="-0.013075 -0.015412 0.022007" rpy="0.0 0.0 0.0"/>
      <mass value="0.19184"/>
      <inertia ixx="3.9359e-05" ixy="-1.1994e-07" ixz="-1.876e-07" iyy="3.2122e-05" iyz="-2.0609e-07" izz="4.6536e-05"/>
    </inertial>
    <visual name="GLF4Base_Visual">
      <origin xyz="0.0 0.0 0.0" rpy="0.0 0.0 0.0"/>
      <geometry>
        <mesh filename="../meshes/Finger_Base_Frame.stl"/>
      </geometry>
      <material name="">
        <color rgba="0.79216 0.81961 0.93333 1.0"/>
      </material>
    </visual>
    <collision name="GLF4Base_Collision">
      <origin xyz="0.0 0.0 0.0" rpy="0.0 0.0 0.0"/>
      <geometry>
        <mesh filename="../meshes/Finger_Base_Frame_convexhull.stl" scale="1.0 1.0 1.0"/>
      </geometry>
    </collision>
  </link>
  <joint name="GLF4DistanceSensorDistal1" type="fixed">
    <origin xyz="0.000299999833291532 -0.0247775082611843 -0.0163492159542979" rpy="0.0 1.13794911843156 1.5707963267949"/>
    <parent link="GLF4TopSegment_Link"/>
    <child link="GLF4DistanceSensorDistal1_Link"/>
  </joint>
  <link name="GLF4DistanceSensorDistal1_Link">
    <inertial>
      <origin xyz="0.0 0.0 0.0" rpy="0.0 0.0 0.0"/>
      <mass value="1e-05"/>
      <inertia ixx="1e-05" ixy="0.0" ixz="0.0" iyy="1e-05" iyz="0.0" izz="1e-05"/>
    </inertial>
  </link>
  <joint name="GLF4DistanceSensorDistal2" type="fixed">
    <origin xyz="0.000199995310425429 0.0507125844075086 -0.0195804953991652" rpy="3.14159265358977 -0.751361283639969 1.57079632679489"/>
    <parent link="GLF4TopSegment_Link"/>
    <child link="GLF4DistanceSensorDistal2_Link"/>
  </joint>
  <link name="GLF4DistanceSensorDistal2_Link">
    <inertial>
      <origin xyz="0.0 0.0 0.0" rpy="0.0 0.0 0.0"/>
      <mass value="1e-05"/>
      <inertia ixx="1e-05" ixy="0.0" ixz="0.0" iyy="1e-05" iyz="0.0" izz="1e-05"/>
    </inertial>
  </link>
  <joint name="GLF4Gear" type="revolute">
    <origin xyz="0.0 0.0 0.053" rpy="1.2885 0.0 0.0"/>
    <axis xyz="1.0 0.0 0.0"/>
    <parent link="GLF4ProximalSegment_Link"/>
    <child link="GLF4Gear_Link"/>
    <limit effort="400.0" lower="-3.1415926" upper="3.1415926" velocity="3.1415926"/>
    <mimic joint="GLF4ProximalSegment" multiplier="-1.0" offset="0.0"/>
  </joint>
  <link name="GLF4Gear_Link">
    <inertial>
      <origin xyz="0.00042134 0.00032509 0.0086803" rpy="0.0 0.0 0.0"/>
      <mass value="0.024785"/>
      <inertia ixx="1.1031768852531896e-05" ixy="-3.314199999999995e-09" ixz="-1.3220000000000009e-08" iyy="1.04518688525319e-05" iyz="-1.0513000000000047e-07" izz="1.0024648852531899e-05"/>
    </inertial>
    <visual name="GLF4Gear_Visual">
      <origin xyz="0.0 0.0 0.0" rpy="0.0 0.0 0.0"/>
      <geometry>
        <mesh filename="../meshes/F_Gear_Frame.stl"/>
      </geometry>
      <material name="">
        <color rgba="0.94118 0.67451 0.11765 1.0"/>
      </material>
    </visual>
    <collision name="GLF4Gear_Collision">
      <origin xyz="0.0 0.0 0.0" rpy="0.0 0.0 0.0"/>
      <geometry>
        <mesh filename="../meshes/F_Gear_Frame_convexhull.stl" scale="1.0 1.0 1.0"/>
      </geometry>
    </collision>
  </link>
  <joint name="GLF4ProximalBar" type="revolute">
    <origin xyz="-0.01305 0.020512 0.035979" rpy="-1.1138 0.0 0.0"/>
    <axis xyz="-1.0 0.0 0.0"/>
    <parent link="GLF4Base_Link"/>
    <child link="GLF4ProximalBar_Link"/>
    <limit effort="400.0" lower="-3.1415926" upper="3.1415926" velocity="3.1415926"/>
    <mimic joint="GLF4ProximalSegment" multiplier="-1.0" offset="0.0"/>
  </joint>
  <link name="GLF4ProximalBar_Link">
    <inertial>
      <origin xyz="0.0021195 9.8516e-05 0.017626" rpy="0.0 0.0 0.0"/>
      <mass value="0.013406"/>
      <inertia ixx="1.3148561531334552e-05" ixy="-2.4433999999999384e-08" ixz="2.606700000000039e-07" iyy="1.3680961531334562e-05" iyz="7.3035999999996e-08" izz="1.0023111531334548e-05"/>
    </inertial>
    <visual name="GLF4ProximalBar_Visual">
      <origin xyz="0.0 0.0 0.0" rpy="0.0 0.0 0.0"/>
      <geometry>
        <mesh filename="../meshes/F_ProximalBar_Frame.stl"/>
      </geometry>
      <material name="">
        <color rgba="0.94118 0.67451 0.11765 1.0"/>
      </material>
    </visual>
    <collision name="GLF4ProximalBar_Collision">
      <origin xyz="0.0 0.0 0.0" rpy="0.0 0.0 0.0"/>
      <geometry>
        <mesh filename="../meshes/F_ProximalBar_Frame_convexhull.stl" scale="1.0 1.0 1.0"/>
      </geometry>
    </collision>
  </link>
  <joint name="GLF4ProximalSegment" type="revolute">
    <origin xyz="-0.01305 0.01575 0.0145" rpy="-1.1257 0.0 0.0"/>
    <axis xyz="1.0 0.0 0.0"/>
    <parent link="GLF4Base_Link"/>
    <child link="GLF4ProximalSegment_Link"/>
    <limit effort="400.0" lower="-0.62" upper="0.75" velocity="3.1415926"/>
  </joint>
  <link name="GLF4ProximalSegment_Link">
    <inertial>
      <origin xyz="-0.0020803 0.000387 0.0216" rpy="0.0 0.0 0.0"/>
      <mass value="0.054293"/>
      <inertia ixx="2.0885480277942027e-05" ixy="-1.4302000000000018e-08" ixz="-2.6832000000000287e-07" iyy="2.3749480277942032e-05" iyz="6.182299999999969e-07" izz="1.0034380277942036e-05"/>
    </inertial>
    <visual name="GLF4ProximalSegment_Visual">
      <origin xyz="0.0 0.0 0.0" rpy="0.0 0.0 0.0"/>
      <geometry>
        <mesh filename="../meshes/F_ProximalSegment_Frame.stl"/>
      </geometry>
      <material name="">
        <color rgba="0.94118 0.67451 0.11765 1.0"/>
      </material>
    </visual>
    <collision name="GLF4ProximalSegment_Collision">
      <origin xyz="0.0 0.0 0.0" rpy="0.0 0.0 0.0"/>
      <geometry>
        <mesh filename="../meshes/F_ProximalSegment_Frame_convexhull.stl" scale="1.0 1.0 1.0"/>
      </geometry>
    </collision>
  </link>
  <joint name="GLF4TopSegment" type="revolute">
    <origin xyz="0.0 0.0 0.0" rpy="0.0 0.0 0.0"/>
    <axis xyz="1.0 0.0 0.0"/>
    <parent link="GLF4Gear_Link"/>
    <child link="GLF4TopSegment_Link"/>
    <limit effort="400.0" lower="0.0" upper="2.1" velocity="3.1415926"/>
  </joint>
  <link name="GLF4TopSegment_Link">
    <inertial>
      <origin xyz="0.00093543 0.026024 -0.013282" rpy="0.0 0.0 0.0"/>
      <mass value="0.049549"/>
      <inertia ixx="1.1651277429850969e-05" ixy="4.429600000000007e-07" ixz="-6.034000000000013e-08" iyy="1.0300577429850967e-05" iyz="7.458100000000004e-07" izz="1.319687742985097e-05"/>
    </inertial>
    <visual name="GLF4TopSegment_Visual">
      <origin xyz="0.0 0.0 0.0" rpy="0.0 0.0 0.0"/>
      <geometry>
        <mesh filename="../meshes/F_TopSegment_Frame.stl"/>
      </geometry>
      <material name="">
        <color rgba="0.94118 0.67451 0.11765 1.0"/>
      </material>
    </visual>
    <collision name="GLF4TopSegment_Collision">
      <origin xyz="0.0 0.0 0.0" rpy="0.0 0.0 0.0"/>
      <geometry>
        <mesh filename="../meshes/F_TopSegment_Frame_convexhull.stl" scale="1.0 1.0 1.0"/>
      </geometry>
    </collision>
  </link>
  <joint name="GLF4TouchSensorDistal" type="fixed">
    <origin xyz="0.000200002939819318 0.0407117537406957 -0.0292563156876496" rpy="-3.14159265358978 1.17417004512815 -1.57079632679488"/>
    <parent link="GLF4TopSegment_Link"/>
    <child link="GLF4TouchSensorDistal_Link"/>
  </joint>
  <link name="GLF4TouchSensorDistal_Link">
    <inertial>
      <origin xyz="0.0 0.0 0.0" rpy="0.0 0.0 0.0"/>
      <mass value="1e-05"/>
      <inertia ixx="1e-05" ixy="0.0" ixz="0.0" iyy="1e-05" iyz="0.0" izz="1e-05"/>
    </inertial>
  </link>
  <joint name="GLF4TouchSensorIntermedial" type="fixed">
    <origin xyz="0.000200000530702645 0.0123371368999994 -0.01766647971245" rpy="-3.14159265358978 1.18769356276747 -1.57079632679488"/>
    <parent link="GLF4TopSegment_Link"/>
    <child link="GLF4TouchSensorIntermedial_Link"/>
  </joint>
  <link name="GLF4TouchSensorIntermedial_Link">
    <inertial>
      <origin xyz="0.0 0.0 0.0" rpy="0.0 0.0 0.0"/>
      <mass value="1e-05"/>
      <inertia ixx="1e-05" ixy="0.0" ixz="0.0" iyy="1e-05" iyz="0.0" izz="1e-05"/>
    </inertial>
  </link>
  <joint name="GLF4TouchSensor_FingerProximal" type="fixed">
    <origin xyz="0.0003 0.0088011 0.024649" rpy="0.0 -0.15059 1.5708"/>
    <parent link="GLF4ProximalSegment_Link"/>
    <child link="GLF4TouchSensor_FingerProximal_Link"/>
  </joint>
  <link name="GLF4TouchSensor_FingerProximal_Link">
    <inertial>
      <origin xyz="0.0 0.0 0.0" rpy="0.0 0.0 0.0"/>
      <mass value="1e-05"/>
      <inertia ixx="1e-05" ixy="0.0" ixz="0.0" iyy="1e-05" iyz="0.0" izz="1e-05"/>
    </inertial>
  </link>
  <joint name="GLIMU" type="fixed">
    <origin xyz="-0.003256 0.00202 0.053849" rpy="0.0 1.3526 0.0"/>
    <parent link="GLBase_Link"/>
    <child link="GLIMU_Link"/>
  </joint>
  <link name="GLIMU_Link">
    <inertial>
      <origin xyz="0.0 -0.0 0.0" rpy="0.0 0.0 0.0"/>
      <mass value="1e-05"/>
      <inertia ixx="1e-05" ixy="0.0" ixz="0.0" iyy="1e-05" iyz="0.0" izz="1e-05"/>
    </inertial>
  </link>
  <joint name="GLThumb" type="revolute">
    <origin xyz="0.019161 -0.002327 0.042" rpy="0.0 0.0 3.141593"/>
    <axis xyz="1.0 0.0 0.0"/>
    <parent link="GLBase_Link"/>
    <child link="GLThumb_Link"/>
    <limit effort="400.0" lower="-0.261" upper="1.309" velocity="3.1415926"/>
  </joint>
  <link name="GLThumb_Link">
    <inertial>
      <origin xyz="-0.013372 -1.5e-05 0.005722" rpy="0.0 0.0 0.0"/>
      <mass value="0.15951000503205323"/>
      <inertia ixx="0.00012916999997455712" ixy="-3.672917796453883e-08" ixz="-5.48909950442523e-07" iyy="9.690200002544285e-05" iyz="1.4306019014801817e-07" izz="0.000100037"/>
    </inertial>
    <visual name="GLThumb_Visual">
      <origin xyz="0.0 -0.0 0.0" rpy="0.0 0.0 3.141593"/>
      <geometry>
        <mesh filename="../meshes/GL_Thumb.stl" scale="1.0 1.0 1.0"/>
      </geometry>
      <material name="">
        <color rgba="0.94118 0.67451 0.11765 1.0"/>
      </material>
    </visual>
    <collision name="GLThumb_Collision">
      <origin xyz="0.0 0.0 0.0" rpy="0.0 0.0 0.0"/>
      <geometry>
        <mesh filename="../meshes/GL_Thumb_convexhull.stl" scale="1.0 1.0 1.0"/>
      </geometry>
    </collision>
  </link>
  <joint name="GRBase" type="fixed">
    <origin xyz="0.0 0.0 0.0" rpy="0.0 0.0 3.1415926535"/>
    <parent link="ARWristFT_Link"/>
    <child link="GRBase_Link"/>
  </joint>
  <link name="GRBase_Link">
    <inertial>
      <origin xyz="-7.9877e-05 0.0039477 0.041434" rpy="0.0 0.0 0.0"/>
      <mass value="0.16915002046641558"/>
      <inertia ixx="0.00014761" ixy="-2.1314e-09" ixz="-5.6431e-09" iyy="0.00027908999999999996" iyz="2.001199999999992e-07" izz="0.00017465"/>
    </inertial>
    <visual name="GRBase_Visual">
      <origin xyz="0.0 0.0 0.0" rpy="0.0 0.0 0.0"/>
      <geometry>
        <mesh filename="../meshes/2FGripper_BaseFrame.stl"/>
      </geometry>
      <material name="">
        <color rgba="0.77647 0.75686 0.73725 1.0"/>
      </material>
    </visual>
    <collision name="GRBase_Collision">
      <origin xyz="0.0 0.0 0.0" rpy="0.0 0.0 0.0"/>
      <geometry>
        <mesh filename="../meshes/2FGripper_BaseFrame_convexhull.stl" scale="1.0 1.0 1.0"/>
      </geometry>
    </collision>
  </link>
  <joint name="GRF1Base" type="fixed">
    <origin xyz="-0.021725 -0.013001 0.064903" rpy="1.789 0.0 -1.5708"/>
    <parent link="GRBase_Link"/>
    <child link="GRF1Base_Link"/>
  </joint>
  <link name="GRF1Base_Link">
    <inertial>
      <origin xyz="-0.013075 -0.015412 0.022007" rpy="0.0 0.0 0.0"/>
      <mass value="0.19184"/>
      <inertia ixx="3.9359e-05" ixy="-1.1994e-07" ixz="-1.876e-07" iyy="3.2122e-05" iyz="-2.0609e-07" izz="4.6536e-05"/>
    </inertial>
    <visual name="GRF1Base_Visual">
      <origin xyz="0.0 0.0 0.0" rpy="0.0 0.0 0.0"/>
      <geometry>
        <mesh filename="../meshes/Finger_Base_Frame.stl"/>
      </geometry>
      <material name="">
        <color rgba="0.79216 0.81961 0.93333 1.0"/>
      </material>
    </visual>
    <collision name="GRF1Base_Collision">
      <origin xyz="0.0 0.0 0.0" rpy="0.0 0.0 0.0"/>
      <geometry>
        <mesh filename="../meshes/Finger_Base_Frame_convexhull.stl" scale="1.0 1.0 1.0"/>
      </geometry>
    </collision>
  </link>
  <joint name="GRF1DistanceSensorDistal1" type="fixed">
    <origin xyz="0.000299999833291532 -0.0247775082611843 -0.0163492159542979" rpy="0.0 1.13794911843156 1.5707963267949"/>
    <parent link="GRF1TopSegment_Link"/>
    <child link="GRF1DistanceSensorDistal1_Link"/>
  </joint>
  <link name="GRF1DistanceSensorDistal1_Link">
    <inertial>
      <origin xyz="0.0 0.0 0.0" rpy="0.0 0.0 0.0"/>
      <mass value="1e-05"/>
      <inertia ixx="1e-05" ixy="0.0" ixz="0.0" iyy="1e-05" iyz="0.0" izz="1e-05"/>
    </inertial>
  </link>
  <joint name="GRF1DistanceSensorDistal2" type="fixed">
    <origin xyz="0.000199995310425429 0.0507125844075086 -0.0195804953991652" rpy="3.14159265358977 -0.751361283639969 1.57079632679489"/>
    <parent link="GRF1TopSegment_Link"/>
    <child link="GRF1DistanceSensorDistal2_Link"/>
  </joint>
  <link name="GRF1DistanceSensorDistal2_Link">
    <inertial>
      <origin xyz="0.0 0.0 0.0" rpy="0.0 0.0 0.0"/>
      <mass value="1e-05"/>
      <inertia ixx="1e-05" ixy="0.0" ixz="0.0" iyy="1e-05" iyz="0.0" izz="1e-05"/>
    </inertial>
  </link>
  <joint name="GRF1Gear" type="revolute">
    <origin xyz="0.0 0.0 0.053" rpy="1.2885 0.0 0.0"/>
    <axis xyz="1.0 0.0 0.0"/>
    <parent link="GRF1ProximalSegment_Link"/>
    <child link="GRF1Gear_Link"/>
    <limit effort="400.0" lower="-3.1415926" upper="3.1415926" velocity="3.1415926"/>
    <mimic joint="GRF1ProximalSegment" multiplier="-1.0" offset="0.0"/>
  </joint>
  <link name="GRF1Gear_Link">
    <inertial>
      <origin xyz="0.00042134 0.00032509 0.0086803" rpy="0.0 0.0 0.0"/>
      <mass value="0.024785"/>
      <inertia ixx="1.1031768852531896e-05" ixy="-3.314199999999995e-09" ixz="-1.3220000000000009e-08" iyy="1.04518688525319e-05" iyz="-1.0513000000000047e-07" izz="1.0024648852531899e-05"/>
    </inertial>
    <visual name="GRF1Gear_Visual">
      <origin xyz="0.0 0.0 0.0" rpy="0.0 0.0 0.0"/>
      <geometry>
        <mesh filename="../meshes/F_Gear_Frame.stl"/>
      </geometry>
      <material name="">
        <color rgba="0.94118 0.67451 0.11765 1.0"/>
      </material>
    </visual>
    <collision name="GRF1Gear_Collision">
      <origin xyz="0.0 0.0 0.0" rpy="0.0 0.0 0.0"/>
      <geometry>
        <mesh filename="../meshes/F_Gear_Frame_convexhull.stl" scale="1.0 1.0 1.0"/>
      </geometry>
    </collision>
  </link>
  <joint name="GRF1ProximalBar" type="revolute">
    <origin xyz="-0.01305 0.020512 0.035979" rpy="-1.1138 0.0 0.0"/>
    <axis xyz="-1.0 0.0 0.0"/>
    <parent link="GRF1Base_Link"/>
    <child link="GRF1ProximalBar_Link"/>
    <limit effort="400.0" lower="-3.1415926" upper="3.1415926" velocity="3.1415926"/>
    <mimic joint="GRF1ProximalSegment" multiplier="-1.0" offset="0.0"/>
  </joint>
  <link name="GRF1ProximalBar_Link">
    <inertial>
      <origin xyz="0.0021195 9.8516e-05 0.017626" rpy="0.0 0.0 0.0"/>
      <mass value="0.013406"/>
      <inertia ixx="1.3148561531334552e-05" ixy="-2.4433999999999384e-08" ixz="2.606700000000039e-07" iyy="1.3680961531334562e-05" iyz="7.3035999999996e-08" izz="1.0023111531334548e-05"/>
    </inertial>
    <visual name="GRF1ProximalBar_Visual">
      <origin xyz="0.0 0.0 0.0" rpy="0.0 0.0 0.0"/>
      <geometry>
        <mesh filename="../meshes/F_ProximalBar_Frame.stl"/>
      </geometry>
      <material name="">
        <color rgba="0.94118 0.67451 0.11765 1.0"/>
      </material>
    </visual>
    <collision name="GRF1ProximalBar_Collision">
      <origin xyz="0.0 0.0 0.0" rpy="0.0 0.0 0.0"/>
      <geometry>
        <mesh filename="../meshes/F_ProximalBar_Frame_convexhull.stl" scale="1.0 1.0 1.0"/>
      </geometry>
    </collision>
  </link>
  <joint name="GRF1ProximalSegment" type="revolute">
    <origin xyz="-0.01305 0.01575 0.0145" rpy="-1.1257 0.0 0.0"/>
    <axis xyz="1.0 0.0 0.0"/>
    <parent link="GRF1Base_Link"/>
    <child link="GRF1ProximalSegment_Link"/>
    <limit effort="400.0" lower="-0.62" upper="0.75" velocity="3.1415926"/>
  </joint>
  <link name="GRF1ProximalSegment_Link">
    <inertial>
      <origin xyz="-0.0020803 0.000387 0.0216" rpy="0.0 0.0 0.0"/>
      <mass value="0.054293"/>
      <inertia ixx="2.0885480277942027e-05" ixy="-1.4302000000000018e-08" ixz="-2.6832000000000287e-07" iyy="2.3749480277942032e-05" iyz="6.182299999999969e-07" izz="1.0034380277942036e-05"/>
    </inertial>
    <visual name="GRF1ProximalSegment_Visual">
      <origin xyz="0.0 0.0 0.0" rpy="0.0 0.0 0.0"/>
      <geometry>
        <mesh filename="../meshes/F_ProximalSegment_Frame.stl"/>
      </geometry>
      <material name="">
        <color rgba="0.94118 0.67451 0.11765 1.0"/>
      </material>
    </visual>
    <collision name="GRF1ProximalSegment_Collision">
      <origin xyz="0.0 0.0 0.0" rpy="0.0 0.0 0.0"/>
      <geometry>
        <mesh filename="../meshes/F_ProximalSegment_Frame_convexhull.stl" scale="1.0 1.0 1.0"/>
      </geometry>
    </collision>
  </link>
  <joint name="GRF1TopSegment" type="revolute">
    <origin xyz="0.0 0.0 0.0" rpy="0.0 0.0 0.0"/>
    <axis xyz="1.0 0.0 0.0"/>
    <parent link="GRF1Gear_Link"/>
    <child link="GRF1TopSegment_Link"/>
    <limit effort="400.0" lower="0.0" upper="2.1" velocity="3.1415926"/>
  </joint>
  <link name="GRF1TopSegment_Link">
    <inertial>
      <origin xyz="0.00093543 0.026024 -0.013282" rpy="0.0 0.0 0.0"/>
      <mass value="0.049549"/>
      <inertia ixx="1.1651277429850969e-05" ixy="4.429600000000007e-07" ixz="-6.034000000000013e-08" iyy="1.0300577429850967e-05" iyz="7.458100000000004e-07" izz="1.319687742985097e-05"/>
    </inertial>
    <visual name="GRF1TopSegment_Visual">
      <origin xyz="0.0 0.0 0.0" rpy="0.0 0.0 0.0"/>
      <geometry>
        <mesh filename="../meshes/F_TopSegment_Frame.stl"/>
      </geometry>
      <material name="">
        <color rgba="0.94118 0.67451 0.11765 1.0"/>
      </material>
    </visual>
    <collision name="GRF1TopSegment_Collision">
      <origin xyz="0.0 0.0 0.0" rpy="0.0 0.0 0.0"/>
      <geometry>
        <mesh filename="../meshes/F_TopSegment_Frame_convexhull.stl" scale="1.0 1.0 1.0"/>
      </geometry>
    </collision>
  </link>
  <joint name="GRF1TouchSensorDistal" type="fixed">
    <origin xyz="0.000200002939819318 0.0407117537406957 -0.0292563156876496" rpy="-3.14159265358978 1.17417004512815 -1.57079632679488"/>
    <parent link="GRF1TopSegment_Link"/>
    <child link="GRF1TouchSensorDistal_Link"/>
  </joint>
  <link name="GRF1TouchSensorDistal_Link">
    <inertial>
      <origin xyz="0.0 0.0 0.0" rpy="0.0 0.0 0.0"/>
      <mass value="1e-05"/>
      <inertia ixx="1e-05" ixy="0.0" ixz="0.0" iyy="1e-05" iyz="0.0" izz="1e-05"/>
    </inertial>
  </link>
  <joint name="GRF1TouchSensorIntermedial" type="fixed">
    <origin xyz="0.000200000530702645 0.0123371368999994 -0.01766647971245" rpy="-3.14159265358978 1.18769356276747 -1.57079632679488"/>
    <parent link="GRF1TopSegment_Link"/>
    <child link="GRF1TouchSensorIntermedial_Link"/>
  </joint>
  <link name="GRF1TouchSensorIntermedial_Link">
    <inertial>
      <origin xyz="0.0 0.0 0.0" rpy="0.0 0.0 0.0"/>
      <mass value="1e-05"/>
      <inertia ixx="1e-05" ixy="0.0" ixz="0.0" iyy="1e-05" iyz="0.0" izz="1e-05"/>
    </inertial>
  </link>
  <joint name="GRF1TouchSensor_FingerProximal" type="fixed">
    <origin xyz="0.0003 0.0088011 0.024649" rpy="0.0 -0.15059 1.5708"/>
    <parent link="GRF1ProximalSegment_Link"/>
    <child link="GRF1TouchSensor_FingerProximal_Link"/>
  </joint>
  <link name="GRF1TouchSensor_FingerProximal_Link">
    <inertial>
      <origin xyz="0.0 0.0 0.0" rpy="0.0 0.0 0.0"/>
      <mass value="1e-05"/>
      <inertia ixx="1e-05" ixy="0.0" ixz="0.0" iyy="1e-05" iyz="0.0" izz="1e-05"/>
    </inertial>
  </link>
  <joint name="GRF2Base" type="fixed">
    <origin xyz="0.02175 0.012996 0.064903" rpy="1.789 0.0 1.5708"/>
    <parent link="GRBase_Link"/>
    <child link="GRF2Base_Link"/>
  </joint>
  <link name="GRF2Base_Link">
    <inertial>
      <origin xyz="-0.013075 -0.015412 0.022007" rpy="0.0 0.0 0.0"/>
      <mass value="0.19184"/>
      <inertia ixx="3.9359e-05" ixy="-1.1994e-07" ixz="-1.876e-07" iyy="3.2122e-05" iyz="-2.0609e-07" izz="4.6536e-05"/>
    </inertial>
    <visual name="GRF2Base_Visual">
      <origin xyz="0.0 0.0 0.0" rpy="0.0 0.0 0.0"/>
      <geometry>
        <mesh filename="../meshes/Finger_Base_Frame.stl"/>
      </geometry>
      <material name="">
        <color rgba="0.79216 0.81961 0.93333 1.0"/>
      </material>
    </visual>
    <collision name="GRF2Base_Collision">
      <origin xyz="0.0 0.0 0.0" rpy="0.0 0.0 0.0"/>
      <geometry>
        <mesh filename="../meshes/Finger_Base_Frame_convexhull.stl" scale="1.0 1.0 1.0"/>
      </geometry>
    </collision>
  </link>
  <joint name="GRF2DistanceSensorDistal1" type="fixed">
    <origin xyz="0.000299999833291532 -0.0247775082611843 -0.0163492159542979" rpy="0.0 1.13794911843156 1.5707963267949"/>
    <parent link="GRF2TopSegment_Link"/>
    <child link="GRF2DistanceSensorDistal1_Link"/>
  </joint>
  <link name="GRF2DistanceSensorDistal1_Link">
    <inertial>
      <origin xyz="0.0 0.0 0.0" rpy="0.0 0.0 0.0"/>
      <mass value="1e-05"/>
      <inertia ixx="1e-05" ixy="0.0" ixz="0.0" iyy="1e-05" iyz="0.0" izz="1e-05"/>
    </inertial>
  </link>
  <joint name="GRF2DistanceSensorDistal2" type="fixed">
    <origin xyz="0.000199995310425429 0.0507125844075086 -0.0195804953991652" rpy="3.14159265358977 -0.751361283639969 1.57079632679489"/>
    <parent link="GRF2TopSegment_Link"/>
    <child link="GRF2DistanceSensorDistal2_Link"/>
  </joint>
  <link name="GRF2DistanceSensorDistal2_Link">
    <inertial>
      <origin xyz="0.0 0.0 0.0" rpy="0.0 0.0 0.0"/>
      <mass value="1e-05"/>
      <inertia ixx="1e-05" ixy="0.0" ixz="0.0" iyy="1e-05" iyz="0.0" izz="1e-05"/>
    </inertial>
  </link>
  <joint name="GRF2Gear" type="revolute">
    <origin xyz="0.0 0.0 0.053" rpy="1.2885 0.0 0.0"/>
    <axis xyz="1.0 0.0 0.0"/>
    <parent link="GRF2ProximalSegment_Link"/>
    <child link="GRF2Gear_Link"/>
    <limit effort="400.0" lower="-3.1415926" upper="3.1415926" velocity="3.1415926"/>
    <mimic joint="GRF2ProximalSegment" multiplier="-1.0" offset="0.0"/>
  </joint>
  <link name="GRF2Gear_Link">
    <inertial>
      <origin xyz="0.00042134 0.00032509 0.0086803" rpy="0.0 0.0 0.0"/>
      <mass value="0.024785"/>
      <inertia ixx="1.1031768852531896e-05" ixy="-3.314199999999995e-09" ixz="-1.3220000000000009e-08" iyy="1.04518688525319e-05" iyz="-1.0513000000000047e-07" izz="1.0024648852531899e-05"/>
    </inertial>
    <visual name="GRF2Gear_Visual">
      <origin xyz="0.0 0.0 0.0" rpy="0.0 0.0 0.0"/>
      <geometry>
        <mesh filename="../meshes/F_Gear_Frame.stl"/>
      </geometry>
      <material name="">
        <color rgba="0.94118 0.67451 0.11765 1.0"/>
      </material>
    </visual>
    <collision name="GRF2Gear_Collision">
      <origin xyz="0.0 0.0 0.0" rpy="0.0 0.0 0.0"/>
      <geometry>
        <mesh filename="../meshes/F_Gear_Frame_convexhull.stl" scale="1.0 1.0 1.0"/>
      </geometry>
    </collision>
  </link>
  <joint name="GRF2ProximalBar" type="revolute">
    <origin xyz="-0.01305 0.020512 0.035979" rpy="-1.1138 0.0 0.0"/>
    <axis xyz="-1.0 0.0 0.0"/>
    <parent link="GRF2Base_Link"/>
    <child link="GRF2ProximalBar_Link"/>
    <limit effort="400.0" lower="-3.1415926" upper="3.1415926" velocity="3.1415926"/>
    <mimic joint="GRF2ProximalSegment" multiplier="-1.0" offset="0.0"/>
  </joint>
  <link name="GRF2ProximalBar_Link">
    <inertial>
      <origin xyz="0.0021195 9.8516e-05 0.017626" rpy="0.0 0.0 0.0"/>
      <mass value="0.013406"/>
      <inertia ixx="1.3148561531334552e-05" ixy="-2.4433999999999384e-08" ixz="2.606700000000039e-07" iyy="1.3680961531334562e-05" iyz="7.3035999999996e-08" izz="1.0023111531334548e-05"/>
    </inertial>
    <visual name="GRF2ProximalBar_Visual">
      <origin xyz="0.0 0.0 0.0" rpy="0.0 0.0 0.0"/>
      <geometry>
        <mesh filename="../meshes/F_ProximalBar_Frame.stl"/>
      </geometry>
      <material name="">
        <color rgba="0.94118 0.67451 0.11765 1.0"/>
      </material>
    </visual>
    <collision name="GRF2ProximalBar_Collision">
      <origin xyz="0.0 0.0 0.0" rpy="0.0 0.0 0.0"/>
      <geometry>
        <mesh filename="../meshes/F_ProximalBar_Frame_convexhull.stl" scale="1.0 1.0 1.0"/>
      </geometry>
    </collision>
  </link>
  <joint name="GRF2ProximalSegment" type="revolute">
    <origin xyz="-0.01305 0.01575 0.0145" rpy="-1.1257 0.0 0.0"/>
    <axis xyz="1.0 0.0 0.0"/>
    <parent link="GRF2Base_Link"/>
    <child link="GRF2ProximalSegment_Link"/>
    <limit effort="400.0" lower="-0.62" upper="0.75" velocity="3.1415926"/>
  </joint>
  <link name="GRF2ProximalSegment_Link">
    <inertial>
      <origin xyz="-0.0020803 0.000387 0.0216" rpy="0.0 0.0 0.0"/>
      <mass value="0.054293"/>
      <inertia ixx="2.0885480277942027e-05" ixy="-1.4302000000000018e-08" ixz="-2.6832000000000287e-07" iyy="2.3749480277942032e-05" iyz="6.182299999999969e-07" izz="1.0034380277942036e-05"/>
    </inertial>
    <visual name="GRF2ProximalSegment_Visual">
      <origin xyz="0.0 0.0 0.0" rpy="0.0 0.0 0.0"/>
      <geometry>
        <mesh filename="../meshes/F_ProximalSegment_Frame.stl"/>
      </geometry>
      <material name="">
        <color rgba="0.94118 0.67451 0.11765 1.0"/>
      </material>
    </visual>
    <collision name="GRF2ProximalSegment_Collision">
      <origin xyz="0.0 0.0 0.0" rpy="0.0 0.0 0.0"/>
      <geometry>
        <mesh filename="../meshes/F_ProximalSegment_Frame_convexhull.stl" scale="1.0 1.0 1.0"/>
      </geometry>
    </collision>
  </link>
  <joint name="GRF2TopSegment" type="revolute">
    <origin xyz="0.0 0.0 0.0" rpy="0.0 0.0 0.0"/>
    <axis xyz="1.0 0.0 0.0"/>
    <parent link="GRF2Gear_Link"/>
    <child link="GRF2TopSegment_Link"/>
    <limit effort="400.0" lower="0.0" upper="2.1" velocity="3.1415926"/>
  </joint>
  <link name="GRF2TopSegment_Link">
    <inertial>
      <origin xyz="0.00093543 0.026024 -0.013282" rpy="0.0 0.0 0.0"/>
      <mass value="0.049549"/>
      <inertia ixx="1.1651277429850969e-05" ixy="4.429600000000007e-07" ixz="-6.034000000000013e-08" iyy="1.0300577429850967e-05" iyz="7.458100000000004e-07" izz="1.319687742985097e-05"/>
    </inertial>
    <visual name="GRF2TopSegment_Visual">
      <origin xyz="0.0 0.0 0.0" rpy="0.0 0.0 0.0"/>
      <geometry>
        <mesh filename="../meshes/F_TopSegment_Frame.stl"/>
      </geometry>
      <material name="">
        <color rgba="0.94118 0.67451 0.11765 1.0"/>
      </material>
    </visual>
    <collision name="GRF2TopSegment_Collision">
      <origin xyz="0.0 0.0 0.0" rpy="0.0 0.0 0.0"/>
      <geometry>
        <mesh filename="../meshes/F_TopSegment_Frame_convexhull.stl" scale="1.0 1.0 1.0"/>
      </geometry>
    </collision>
  </link>
  <joint name="GRF2TouchSensorDistal" type="fixed">
    <origin xyz="0.000200002939819318 0.0407117537406957 -0.0292563156876496" rpy="-3.14159265358978 1.17417004512815 -1.57079632679488"/>
    <parent link="GRF2TopSegment_Link"/>
    <child link="GRF2TouchSensorDistal_Link"/>
  </joint>
  <link name="GRF2TouchSensorDistal_Link">
    <inertial>
      <origin xyz="0.0 0.0 0.0" rpy="0.0 0.0 0.0"/>
      <mass value="1e-05"/>
      <inertia ixx="1e-05" ixy="0.0" ixz="0.0" iyy="1e-05" iyz="0.0" izz="1e-05"/>
    </inertial>
  </link>
  <joint name="GRF2TouchSensorIntermedial" type="fixed">
    <origin xyz="0.000200000530702645 0.0123371368999994 -0.01766647971245" rpy="-3.14159265358978 1.18769356276747 -1.57079632679488"/>
    <parent link="GRF2TopSegment_Link"/>
    <child link="GRF2TouchSensorIntermedial_Link"/>
  </joint>
  <link name="GRF2TouchSensorIntermedial_Link">
    <inertial>
      <origin xyz="0.0 0.0 0.0" rpy="0.0 0.0 0.0"/>
      <mass value="1e-05"/>
      <inertia ixx="1e-05" ixy="0.0" ixz="0.0" iyy="1e-05" iyz="0.0" izz="1e-05"/>
    </inertial>
  </link>
  <joint name="GRF2TouchSensor_FingerProximal" type="fixed">
    <origin xyz="0.0003 0.0088011 0.024649" rpy="0.0 -0.15059 1.5708"/>
    <parent link="GRF2ProximalSegment_Link"/>
    <child link="GRF2TouchSensor_FingerProximal_Link"/>
  </joint>
  <link name="GRF2TouchSensor_FingerProximal_Link">
    <inertial>
      <origin xyz="0.0 0.0 0.0" rpy="0.0 0.0 0.0"/>
      <mass value="1e-05"/>
      <inertia ixx="1e-05" ixy="0.0" ixz="0.0" iyy="1e-05" iyz="0.0" izz="1e-05"/>
    </inertial>
  </link>
  <joint name="GRIMU" type="fixed">
    <origin xyz="-0.0018624 0.026119 0.056625" rpy="-1.5708 -0.0097081 0.0"/>
    <parent link="GRBase_Link"/>
    <child link="GRIMU_Link"/>
  </joint>
  <link name="GRIMU_Link">
    <inertial>
      <origin xyz="0.0 0.0 0.0" rpy="0.0 0.0 0.0"/>
      <mass value="1e-05"/>
      <inertia ixx="1e-05" ixy="0.0" ixz="0.0" iyy="1e-05" iyz="0.0" izz="1e-05"/>
    </inertial>
  </link>
  <joint name="HeadActC" type="revolute">
    <origin xyz="0.15925 0.0 0.0" rpy="-1.5708 0.0 0.0"/>
    <axis xyz="1.0 0.0 0.0"/>
    <parent link="HeadBase_Link"/>
    <child link="HeadActC_Link"/>
    <limit effort="400.0" lower="-3.1415926" upper="3.1415926" velocity="3.1415926"/>
  </joint>
  <link name="HeadActC_Link">
    <inertial>
      <origin xyz="-0.017674 7.2495e-17 5.4996e-17" rpy="0.0 0.0 0.0"/>
      <mass value="0.0046686"/>
      <inertia ixx="1e-05" ixy="4.873599999999988e-23" ixz="5.031600000000013e-23" iyy="1.003789e-05" iyz="-4.798999999999274e-09" izz="1.004626e-05"/>
    </inertial>
    <visual name="HeadActC_Visual">
      <origin xyz="0.0 0.0 0.0" rpy="0.0 0.0 0.0"/>
      <geometry>
        <mesh filename="../meshes/Head_ActC.stl"/>
      </geometry>
      <material name="">
        <color rgba="0.89804 0.91765 0.92941 1.0"/>
      </material>
    </visual>
    <collision name="HeadActC_Collision">
      <origin xyz="0.0 0.0 0.0" rpy="0.0 0.0 0.0"/>
      <geometry>
        <mesh filename="../meshes/Head_ActC_convexhull.stl" scale="1.0 1.0 1.0"/>
      </geometry>
    </collision>
  </link>
  <joint name="HeadActL" type="revolute">
    <origin xyz="0.15925 0.0 0.0" rpy="3.1416 0.0 1.5708"/>
    <axis xyz="1.0 0.0 0.0"/>
    <parent link="HeadBase_Link"/>
    <child link="HeadActL_Link"/>
    <limit effort="400.0" lower="-3.1415926" upper="3.1415926" velocity="3.1415926"/>
  </joint>
  <link name="HeadActL_Link">
    <inertial>
      <origin xyz="-0.018628 0.0 1.3747e-17" rpy="0.0 0.0 0.0"/>
      <mass value="0.049162"/>
      <inertia ixx="1.50716e-05" ixy="3.3203e-22" ixz="-3.6271000000000003e-22" iyy="1.0000000000000003e-05" iyz="-8.470329472543003e-22" izz="1.0000000000000003e-05"/>
    </inertial>
    <visual name="HeadActL_Visual">
      <origin xyz="0.0 0.0 0.0" rpy="0.0 0.0 0.0"/>
      <geometry>
        <mesh filename="../meshes/Head_ActL.stl"/>
      </geometry>
      <material name="">
        <color rgba="0.69804 0.69804 0.69804 1.0"/>
      </material>
    </visual>
    <collision name="HeadActL_Collision">
      <origin xyz="0.0 0.0 0.0" rpy="0.0 0.0 0.0"/>
      <geometry>
        <mesh filename="../meshes/Head_ActL_convexhull.stl" scale="1.0 1.0 1.0"/>
      </geometry>
    </collision>
  </link>
  <joint name="HeadActR" type="revolute">
    <origin xyz="0.15925 0.0 0.0" rpy="0.0 0.0 -1.5708"/>
    <axis xyz="1.0 0.0 0.0"/>
    <parent link="HeadBase_Link"/>
    <child link="HeadActR_Link"/>
    <limit effort="400.0" lower="-3.1415926" upper="3.1415926" velocity="3.1415926"/>
  </joint>
  <link name="HeadActR_Link">
    <inertial>
      <origin xyz="-0.018628 -1.3878e-17 9.5749e-18" rpy="0.0 0.0 0.0"/>
      <mass value="0.049162"/>
      <inertia ixx="1.5071600000000002e-05" ixy="2.9254000000000035e-22" ixz="-3.611699999999999e-22" iyy="1.0000000000000008e-05" iyz="-2.541098841762901e-21" izz="1e-05"/>
    </inertial>
    <visual name="HeadActR_Visual">
      <origin xyz="0.0 0.0 0.0" rpy="0.0 0.0 0.0"/>
      <geometry>
        <mesh filename="../meshes/Head_ActR.stl"/>
      </geometry>
      <material name="">
        <color rgba="0.69804 0.69804 0.69804 1.0"/>
      </material>
    </visual>
    <collision name="HeadActR_Collision">
      <origin xyz="0.0 0.0 0.0" rpy="0.0 0.0 0.0"/>
      <geometry>
        <mesh filename="../meshes/Head_ActR_convexhull.stl" scale="1.0 1.0 1.0"/>
      </geometry>
    </collision>
  </link>
  <joint name="HeadBase" type="fixed">
    <origin xyz="0.3485 0.0 0.0" rpy="-3.141592 0.0 0.0"/>
    <parent link="Connector_Body/Torso_Link"/>
    <child link="HeadBase_Link"/>
  </joint>
  <link name="HeadBase_Link">
    <inertial>
      <origin xyz="0.074228 -3.6471e-05 -0.00062034" rpy="0.0 0.0 0.0"/>
      <mass value="1.339"/>
      <inertia ixx="0.0017089" ixy="4.2668e-08" ixz="5.2598e-08" iyy="0.0014476" iyz="7.0143e-07" izz="0.0013396"/>
    </inertial>
    <visual name="HeadBase_Visual">
      <origin xyz="0.0 0.0 0.0" rpy="0.0 0.0 0.0"/>
      <geometry>
        <mesh filename="../meshes/Head_Base.stl"/>
      </geometry>
      <material name="">
        <color rgba="0.69804 0.69804 0.69804 1.0"/>
      </material>
    </visual>
    <collision name="HeadBase_Collision">
      <origin xyz="0.0 0.0 0.0" rpy="0.0 0.0 0.0"/>
      <geometry>
        <mesh filename="../meshes/Head_Base_convexhull.stl" scale="1.0 1.0 1.0"/>
      </geometry>
    </collision>
  </link>
  <joint name="HeadPitch" type="revolute">
    <origin xyz="0.15925 0.0 0.0" rpy="0.0 0.0 -1.5708"/>
    <axis xyz="1.0 0.0 0.0"/>
    <parent link="HeadBase_Link"/>
    <child link="HeadPitch_Link"/>
    <limit effort="400.0" lower="-0.3" upper="0.35" velocity="3.1415926"/>
  </joint>
  <link name="HeadPitch_Link">
    <inertial>
      <origin xyz="3.73800046473431e-08 -4.45791975556276e-09 0.00296950883117566" rpy="0.0 0.0 0.0"/>
      <mass value="0.0135306815484183"/>
      <inertia ixx="1.0900469792997046e-05" ixy="-1.983276674419689e-12" ixz="2.9229038977620623e-12" iyy="1.1777940400612256e-05" iyz="-1.006944634337718e-13" izz="1.0000000000009494e-05"/>
    </inertial>
    <visual name="HeadPitch_Visual">
      <origin xyz="0.0 0.0 0.0" rpy="0.0 0.0 0.0"/>
      <geometry>
        <mesh filename="../meshes/HeadPitch.stl"/>
      </geometry>
      <material name="">
        <color rgba="0.898039215686275 0.917647058823529 0.929411764705882 1.0"/>
      </material>
    </visual>
    <collision name="HeadPitch_Collision">
      <origin xyz="0.0 0.0 0.0" rpy="0.0 0.0 0.0"/>
      <geometry>
        <mesh filename="../meshes/HeadPitch_convexhull.stl" scale="1.0 1.0 1.0"/>
      </geometry>
    </collision>
  </link>
  <joint name="HeadRoll" type="revolute">
    <origin xyz="0.0 0.0 0.0" rpy="-1.5708 -1.5708 0.0"/>
    <axis xyz="-1.0 0.0 0.0"/>
    <parent link="HeadPitch_Link"/>
    <child link="HeadRoll_Link"/>
    <limit effort="400.0" lower="-0.45" upper="0.007853981633974483" velocity="3.1415926"/>
  </joint>
  <link name="HeadRoll_Link">
    <inertial>
      <origin xyz="-0.00844253878850604 -4.18737776903302e-08 0.00884603238325907" rpy="0.0 0.0 0.0"/>
      <mass value="0.109788715391496"/>
      <inertia ixx="1.83994177455821e-05" ixy="5.13405597754959e-11" ixz="-1.07875589146075e-08" iyy="1.359548687449e-05" iyz="-9.3011670884998e-10" izz="1.39946184243742e-05"/>
    </inertial>
    <visual name="HeadRoll_Visual">
      <origin xyz="0.0 0.0 0.0" rpy="0.0 0.0 0.0"/>
      <geometry>
        <mesh filename="../meshes/HeadRoll.stl"/>
      </geometry>
      <material name="">
        <color rgba="0.898039215686275 0.917647058823529 0.929411764705882 1.0"/>
      </material>
    </visual>
    <collision name="HeadRoll_Collision">
      <origin xyz="0.0 0.0 0.0" rpy="0.0 0.0 0.0"/>
      <geometry>
        <mesh filename="../meshes/HeadRoll_convexhull.stl" scale="1.0 1.0 1.0"/>
      </geometry>
    </collision>
  </link>
  <joint name="HeadYaw" type="revolute">
    <origin xyz="0.0 0.0 0.0" rpy="1.5708 -1.5708 0.0"/>
    <axis xyz="1.0 0.0 0.0"/>
    <parent link="HeadRoll_Link"/>
    <child link="HeadYaw_Link"/>
    <limit effort="400.0" lower="-2.1" upper="2.1" velocity="3.1415926"/>
  </joint>
  <link name="HeadYaw_Link">
    <inertial>
      <origin xyz="0.0865202750448954 -0.0440420348532486 -0.00282280741895916" rpy="0.0 0.0 0.0"/>
      <mass value="1.46451930762968"/>
      <inertia ixx="0.00400957562211491" ixy="-0.000773636855316844" ixz="-8.24762860917018e-06" iyy="0.00399135489001388" iyz="-9.04346097850664e-06" izz="0.00411109150468807"/>
    </inertial>
    <visual name="HeadYaw_Visual">
      <origin xyz="0.0 0.0 0.0" rpy="0.0 0.0 0.0"/>
      <geometry>
        <mesh filename="../meshes/HeadYaw.stl"/>
      </geometry>
      <material name="">
        <color rgba="0.498039215686275 0.498039215686275 0.498039215686275 1.0"/>
      </material>
    </visual>
    <collision name="HeadYaw_Collision">
      <origin xyz="0.0 0.0 0.0" rpy="0.0 0.0 0.0"/>
      <geometry>
        <mesh filename="../meshes/HeadYaw_convexhull.stl" scale="1.0 1.0 1.0"/>
      </geometry>
    </collision>
  </link>
  <joint name="IMU_Body" type="fixed">
    <origin xyz="-0.01745 -0.005 0.10795" rpy="-3.141593 0.0 1.570793"/>
    <parent link="BodyRoot_Link"/>
    <child link="IMU_Body_Link"/>
  </joint>
  <link name="IMU_Body_Link">
    <inertial>
      <origin xyz="0.020181 0.018941 0.0015699" rpy="0.0 0.0 0.0"/>
      <mass value="0.093167"/>
      <inertia ixx="1.4618e-05" ixy="-6.5521e-08" ixz="-5.6588e-08" iyy="2.4402e-05" iyz="6.4435e-09" izz="3.4276e-05"/>
    </inertial>
    <visual name="IMU_Body_Visual">
      <origin xyz="0.0 0.0 0.0" rpy="0.0 0.0 0.0"/>
      <geometry>
        <mesh filename="../meshes/IMU_Body.stl"/>
      </geometry>
      <material name="">
        <color rgba="0.69804 0.69804 0.69804 1.0"/>
      </material>
    </visual>
    <collision name="IMU_Body_Collision">
      <origin xyz="0.0 0.0 0.0" rpy="0.0 0.0 0.0"/>
      <geometry>
        <mesh filename="../meshes/IMU_Body_convexhull.stl" scale="1.0 1.0 1.0"/>
      </geometry>
    </collision>
  </link>
  <joint name="IMU_Torso" type="fixed">
    <origin xyz="0.14735 -0.10255 0.0075" rpy="0.014588 -1.570793 3.127004"/>
    <parent link="Connector_Body/Torso_Link"/>
    <child link="IMU_Torso_Link"/>
  </joint>
  <link name="IMU_Torso_Link">
    <inertial>
      <origin xyz="0.020181 0.018941 0.0015699" rpy="0.0 0.0 0.0"/>
      <mass value="0.093167"/>
      <inertia ixx="1.4618e-05" ixy="-6.5519e-08" ixz="-5.6587e-08" iyy="2.4402e-05" iyz="6.4433e-09" izz="3.4276e-05"/>
    </inertial>
    <visual name="IMU_Torso_Visual">
      <origin xyz="0.0 0.0 0.0" rpy="0.0 0.0 0.0"/>
      <geometry>
        <mesh filename="../meshes/IMU_Torso.stl"/>
      </geometry>
      <material name="">
        <color rgba="0.69804 0.69804 0.69804 1.0"/>
      </material>
    </visual>
    <collision name="IMU_Torso_Collision">
      <origin xyz="0.0 0.0 0.0" rpy="0.0 0.0 0.0"/>
      <geometry>
        <mesh filename="../meshes/IMU_Torso_convexhull.stl" scale="1.0 1.0 1.0"/>
      </geometry>
    </collision>
  </link>
  <link name="RH5v2_Root_Link">
    <inertial>
      <origin xyz="0.004352 -2.1674e-05 -0.079131" rpy="0.0 0.0 0.0"/>
      <mass value="1.7255"/>
      <inertia ixx="0.016198" ixy="-6.064e-07" ixz="-0.0013383" iyy="0.010542" iyz="-5.0064e-07" izz="0.016367"/>
    </inertial>
    <visual name="RH5v2_Root_Link_Visual">
      <origin xyz="0.0 0.0 0.0" rpy="0.0 0.0 0.0"/>
      <geometry>
        <mesh filename="../meshes/RH5v2_Root_Link.stl"/>
      </geometry>
      <material name="">
        <color rgba="0.89804 0.91765 0.92941 1.0"/>
      </material>
    </visual>
    <collision name="RH5v2_Root_Link_Collision">
      <origin xyz="0.0 0.0 0.0" rpy="0.0 0.0 0.0"/>
      <geometry>
        <mesh filename="../meshes/RH5v2_Root_Link_convexhull.stl" scale="1.0 1.0 1.0"/>
      </geometry>
    </collision>
  </link>
  <joint name="Stereo_Camera_Head" type="fixed">
    <origin xyz="0.0689999999999992 -0.103499999999999 -0.0314985000000005" rpy="-1.5707963267949 0.0 -1.5707963267949"/>
    <parent link="HeadYaw_Link"/>
    <child link="Stereo_Camera_Head_Link"/>
  </joint>
  <link name="Stereo_Camera_Head_Link">
    <inertial>
      <origin xyz="0.0093017380297578 -0.0242892236376383 -2.56629836528632e-06" rpy="0.0 0.0 0.0"/>
      <mass value="0.163942749569653"/>
      <inertia ixx="0.000214569685214328" ixy="2.48189735161484e-06" ixz="-1.1783765192218e-09" iyy="1.54943903142391e-05" iyz="6.24843939247585e-10" izz="0.000213155596979443"/>
    </inertial>
    <visual name="Stereo_Camera_Head_Visual">
      <origin xyz="0.0 0.0 0.0" rpy="0.0 0.0 0.0"/>
      <geometry>
        <mesh filename="../meshes/Stereo_Camera_Head.stl"/>
      </geometry>
      <material name="">
        <color rgba="0.698039215686274 0.698039215686274 0.698039215686274 1.0"/>
      </material>
    </visual>
    <collision name="Stereo_Camera_Head_Collision">
      <origin xyz="0.0 0.0 0.0" rpy="0.0 0.0 0.0"/>
      <geometry>
        <mesh filename="../meshes/Stereo_Camera_Head_convexhull.stl" scale="1.0 1.0 1.0"/>
      </geometry>
    </collision>
  </link>
  <joint name="Structure_Sensor" type="fixed">
    <origin xyz="0.31589 -0.03825 -0.12041" rpy="7e-06 -0.34907 3.141585"/>
    <parent link="Connector_Body/Torso_Link"/>
    <child link="Structure_Sensor_Link"/>
  </joint>
  <link name="Structure_Sensor_Link">
    <inertial>
      <origin xyz="2.2259e-06 -0.037878 0.0056313" rpy="0.0 0.0 0.0"/>
      <mass value="0.35771"/>
      <inertia ixx="0.00037964" ixy="-5.261e-09" ixz="-7.6239e-10" iyy="3.9054e-05" iyz="-6.5398e-07" izz="0.00037075"/>
    </inertial>
    <visual name="Structure_Sensor_Visual">
      <origin xyz="0.0 0.0 0.0" rpy="0.0 0.0 0.0"/>
      <geometry>
        <mesh filename="../meshes/Structure_Sensor_Torso.stl"/>
      </geometry>
      <material name="">
        <color rgba="0.69804 0.69804 0.69804 1.0"/>
      </material>
    </visual>
    <collision name="Structure_Sensor_Collision">
      <origin xyz="0.0 0.0 0.0" rpy="0.0 0.0 0.0"/>
      <geometry>
        <mesh filename="../meshes/Structure_Sensor_Torso_convexhull.stl" scale="1.0 1.0 1.0"/>
      </geometry>
    </collision>
  </link>
</robot>
